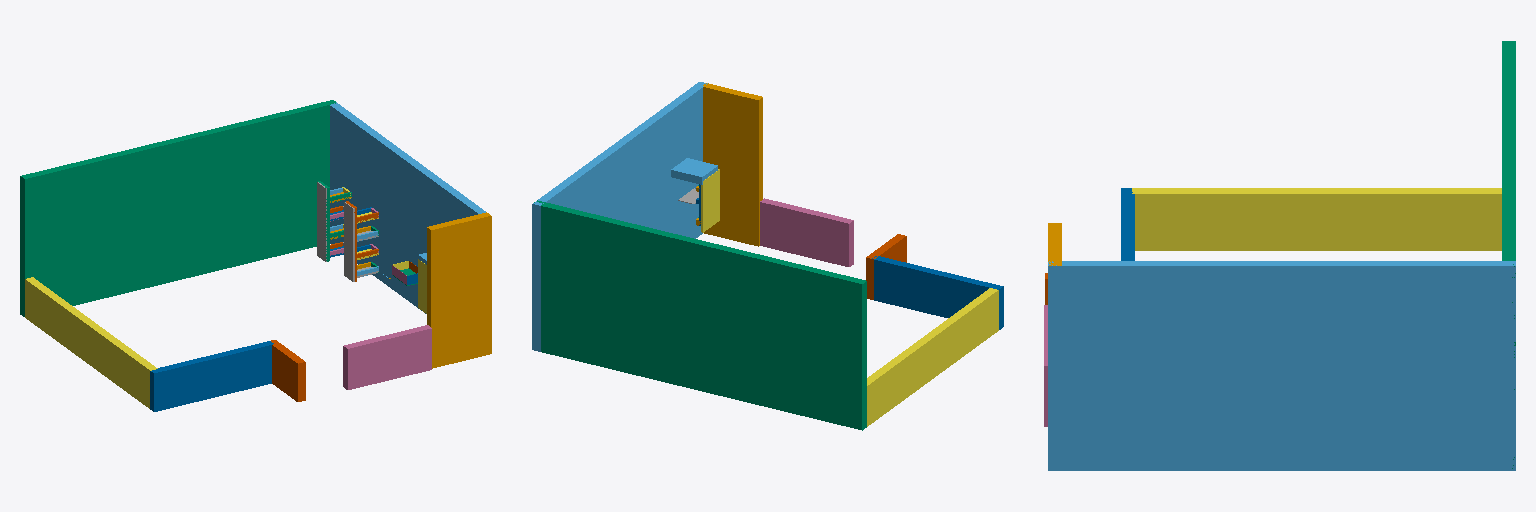
--- Facts derived from the render (not from the file) ---
3 views of the same robot in one strip: view 1: azimuth 30°, elevation 25°; view 2: azimuth 150°, elevation 25°; view 3: azimuth 270°, elevation 25° (orthographic).
Robot: iai_kitchen — 136 links, 135 joints (8 revolute, 16 prismatic, 111 fixed); root link base_link; default pose: all joints at 0.
Links seen in each view (by area): view 1: kitchen_wall_3, kitchen_wall_2, kitchen_wall_1, kitchen_wall_4, kitchen_wall_5, kitchen_wall_7, kitchen_wall_6, oven_area_area_right_drawer_main, oven_area_area_left_drawer_main; view 2: kitchen_wall_3, kitchen_wall_2, kitchen_wall_1, kitchen_wall_4, kitchen_wall_5, kitchen_wall_7, iai_fridge_door_block, kitchen_wall_6, iai_fridge_ceiling; view 3: kitchen_wall_2, kitchen_wall_4, kitchen_wall_3, kitchen_wall_5, kitchen_wall_1.
Boxes of the visible links, bbox=[...] form: kitchen_wall_3: bbox=[20, 100, 335, 316]; kitchen_wall_2: bbox=[330, 102, 485, 313]; kitchen_wall_1: bbox=[427, 212, 491, 368]; kitchen_wall_4: bbox=[25, 277, 157, 408]; kitchen_wall_5: bbox=[150, 341, 273, 411]; kitchen_wall_7: bbox=[343, 325, 431, 389]; kitchen_wall_6: bbox=[271, 340, 305, 401]; oven_area_area_right_drawer_main: bbox=[344, 202, 354, 281]; oven_area_area_left_drawer_main: bbox=[317, 182, 326, 261]; kitchen_wall_3: bbox=[534, 200, 866, 430]; kitchen_wall_2: bbox=[532, 82, 707, 351]; kitchen_wall_1: bbox=[703, 83, 762, 246]; kitchen_wall_4: bbox=[867, 288, 998, 426]; kitchen_wall_5: bbox=[872, 256, 1003, 329]; kitchen_wall_7: bbox=[760, 198, 853, 266]; iai_fridge_door_block: bbox=[701, 169, 719, 232]; kitchen_wall_6: bbox=[866, 234, 906, 299]; iai_fridge_ceiling: bbox=[671, 158, 717, 184]; kitchen_wall_2: bbox=[1048, 261, 1515, 470]; kitchen_wall_4: bbox=[1132, 188, 1501, 250]; kitchen_wall_3: bbox=[1502, 41, 1515, 468]; kitchen_wall_5: bbox=[1121, 188, 1134, 260]; kitchen_wall_1: bbox=[1048, 223, 1061, 265].
Bounding box of the posed robot: 5.9 × 5.22 × 2.5 m (x, y, z).
0 mesh visuals loaded from 30 distinct referenced files (none loaded); not drawn: 57 (reference not matched to a file when rendering).

URDF robot description (iai_kitchen):
<?xml version="1.0"?>
<!-- =================================================================================== -->
<!-- |    This document was autogenerated by xacro from iai_kitchen_python.urdf.xacro  | -->
<!-- |    EDITING THIS FILE BY HAND IS NOT RECOMMENDED                                 | -->
<!-- =================================================================================== -->
<robot name="iai_kitchen">
    <!---
    FIXME THIS should NOT be here -->
    <!--
      <link name="map">
      
      <sphere_inertia radius="0" mass="0"/>
      </link>
      <iai_drawer_60_14 name="drawer_1" parent="map">
      <origin rpy="0 0 0" xyz="0 0 1"/>
      </iai_drawer_60_14>
      
      <iai_drawer_80_14 name="drawer_2" parent="map">
      <origin rpy="0 0 0" xyz="0 0 2"/>
      </iai_drawer_80_14>
      
      <iai_drawer_60_29 name="drawer_3" parent="map">
      <origin rpy="0 0 0" xyz="0 0 3"/>
      </iai_drawer_60_29>
      
      <iai_drawer_80_29 name="drawer_4" parent="map">
      <origin rpy="0 0 0" xyz="0 0 4"/>
      </iai_drawer_80_29>
      
      <iai_drawer_100_29 name="drawer_5" parent="map">
      <origin rpy="0 0 0" xyz="0 0 5"/>
      </iai_drawer_100_29>
  -->
    <!---
    FIXME THIS should NOT be here -->
    <!--
  <link name="oven_footprint">
    
    <xacro:sphere_inertia radius="0" mass="0"/>
  </link>
  <iai_oven name="iai_oven" parent="oven_footprint"/>
  -->
    <!---
    FIXME THIS should NOT be here -->
    <!--
      <link name="map">
      
      <sphere_inertia radius="0" mass="0"/>
      </link>
      <iai_drawer_60_14 name="drawer_1" parent="map">
      <origin rpy="0 0 0" xyz="0 0 1"/>
      </iai_drawer_60_14>
      
      <iai_drawer_80_14 name="drawer_2" parent="map">
      <origin rpy="0 0 0" xyz="0 0 2"/>
      </iai_drawer_80_14>
      
      <iai_drawer_60_29 name="drawer_3" parent="map">
      <origin rpy="0 0 0" xyz="0 0 3"/>
      </iai_drawer_60_29>
      
      <iai_drawer_80_29 name="drawer_4" parent="map">
      <origin rpy="0 0 0" xyz="0 0 4"/>
      </iai_drawer_80_29>
      
      <iai_drawer_100_29 name="drawer_5" parent="map">
      <origin rpy="0 0 0" xyz="0 0 5"/>
      </iai_drawer_100_29>
  -->
    <!---
    FIXME THIS should NOT be here -->
    <!--
      <link name="map">
      
      <sphere_inertia radius="0" mass="0"/>
      </link>
      <iai_drawer_60_14 name="drawer_1" parent="map">
      <origin rpy="0 0 0" xyz="0 0 1"/>
      </iai_drawer_60_14>
      
      <iai_drawer_80_14 name="drawer_2" parent="map">
      <origin rpy="0 0 0" xyz="0 0 2"/>
      </iai_drawer_80_14>
      
      <iai_drawer_60_29 name="drawer_3" parent="map">
      <origin rpy="0 0 0" xyz="0 0 3"/>
      </iai_drawer_60_29>
      
      <iai_drawer_80_29 name="drawer_4" parent="map">
      <origin rpy="0 0 0" xyz="0 0 4"/>
      </iai_drawer_80_29>
      
      <iai_drawer_100_29 name="drawer_5" parent="map">
      <origin rpy="0 0 0" xyz="0 0 5"/>
      </iai_drawer_100_29>
  -->
    <!---
    FIXME THIS should NOT be here -->
    <!--
      <link name="map">
      
      <sphere_inertia radius="0" mass="0"/>
      </link>
      <iai_drawer_60_14 name="drawer_1" parent="map">
      <origin rpy="0 0 0" xyz="0 0 1"/>
      </iai_drawer_60_14>
      
      <iai_drawer_80_14 name="drawer_2" parent="map">
      <origin rpy="0 0 0" xyz="0 0 2"/>
      </iai_drawer_80_14>
      
      <iai_drawer_60_29 name="drawer_3" parent="map">
      <origin rpy="0 0 0" xyz="0 0 3"/>
      </iai_drawer_60_29>
      
      <iai_drawer_80_29 name="drawer_4" parent="map">
      <origin rpy="0 0 0" xyz="0 0 4"/>
      </iai_drawer_80_29>
      
      <iai_drawer_100_29 name="drawer_5" parent="map">
      <origin rpy="0 0 0" xyz="0 0 5"/>
      </iai_drawer_100_29>
  -->
    <link name="room_link">
        <inertial>
            <origin rpy="0 0 0" xyz="0.0 0.0 0.0" />
            <mass value="1" />
            <inertia ixx="1" ixy="0.0" ixz="0.0" iyy="1" iyz="0.0" izz="1" />
        </inertial>
    </link>
    <link name="base_link" />
    <joint name="world_room_joint" type="fixed">
        <origin rpy="0 0 0" xyz="0.0 0.03 0 " />
        <parent link="base_link" />
        <child link="room_link" />
    </joint>
    <link name="sink_area_footprint">
        <inertial>
            <origin rpy="0 0 0" xyz="0.0 0.0 0.0" />
            <mass value="1" />
            <inertia ixx="1" ixy="0.0" ixz="0.0" iyy="1" iyz="0.0" izz="1" />
        </inertial>
    </link>
    <link name="sink_area">
        <inertial>
            <origin rpy="0 0 0" xyz="0.0 0.0 0.0" />
            <mass value="1" />
            <inertia ixx="1" ixy="0.0" ixz="0.0" iyy="1" iyz="0.0" izz="1" />
        </inertial>
        <visual>
            <origin rpy="0 0 0" xyz="0 0 0" />
            <geometry>
                <mesh filename="package://iai_kitchen/meshes/racks/SinkArea.dae" />
            </geometry>
        </visual>
        <collision>
            <origin rpy="0 0 0" xyz="0 0 0" />
            <geometry>
                <mesh filename="package://iai_kitchen/meshes/racks/SinkArea.obj" />
            </geometry>
        </collision>
    </link>
    <joint name="sink_area_footprint_joint" type="fixed">
        <origin rpy="0 0 3.141592653589793" xyz="1.855 1.3 0" />
        <child link="sink_area_footprint" />
        <parent link="room_link" />
    </joint>
    <joint name="sink_area_main_joint" type="fixed">
        <origin rpy="0 0 0" xyz="0.29 1.03 0.41" />
        <parent link="sink_area_footprint" />
        <child link="sink_area" />
    </joint>
    <link name="sink_area_surface">
        <inertial>
            <origin rpy="0 0 0" xyz="0.0 0.0 0.0" />
            <mass value="1" />
            <inertia ixx="1" ixy="0.0" ixz="0.0" iyy="1" iyz="0.0" izz="1" />
        </inertial>
        <collision>
            <origin rpy="0 0 0" xyz="0 -0.225 0" />
            <geometry>
                <box size="0.575 1.6 0.02" />
            </geometry>
        </collision>
    </link>
    <joint name="sink_area_surface_joint" type="fixed">
        <origin rpy="0 0 0" xyz="0.0 0. 0.43" />
        <parent link="sink_area" />
        <child link="sink_area_surface" />
    </joint>
    <link name="sink_area_sink">
        <inertial>
            <origin rpy="0 0 0" xyz="0.0 0.0 0.0" />
            <mass value="1" />
            <inertia ixx="1" ixy="0.0" ixz="0.0" iyy="1" iyz="0.0" izz="1" />
        </inertial>
        <visual>
            <origin rpy="0 0 0" xyz="0 0 0" />
            <geometry>
                <mesh filename="package://iai_kitchen/meshes/misc/Sink.dae" />
            </geometry>
        </visual>
        <collision>
            <origin rpy="0 0 0" xyz="0 0 0" />
            <geometry>
                <mesh filename="package://iai_kitchen/meshes/misc/Sink.obj" />
            </geometry>
        </collision>
    </link>
    <joint name="sink_area_sink_joint" type="fixed">
        <origin rpy="0 0 0" xyz="0.005 0.47 0.4414" />
        <parent link="sink_area" />
        <child link="sink_area_sink" />
    </joint>
    <link name="sink_area_right_panel">
        <inertial>
            <origin rpy="0 0 0" xyz="0.0 0.0 0.0" />
            <mass value="1" />
            <inertia ixx="1" ixy="0.0" ixz="0.0" iyy="1" iyz="0.0" izz="1" />
        </inertial>
        <visual>
            <origin rpy="0 0 0" xyz="0 0 0" />
            <geometry>
                <mesh filename="package://iai_kitchen/meshes/drawers/Panel_60.dae" />
            </geometry>
        </visual>
        <collision>
            <origin rpy="0 0 0" xyz="0 0 0" />
            <geometry>
                <mesh filename="package://iai_kitchen/meshes/drawers/Panel_60.obj" />
            </geometry>
        </collision>
    </link>
    <joint name="sink_area_right_panel_joint" type="fixed">
        <origin rpy="0 0 0" xyz="0.28 0.7 0.355 " />
        <parent link="sink_area" />
        <child link="sink_area_right_panel" />
    </joint>
    <link name="sink_area_trash_drawer_main">
        <inertial>
            <origin rpy="0 0 0" xyz="0.0 0.0 0.0" />
            <mass value="1" />
            <inertia ixx="1" ixy="0.0" ixz="0.0" iyy="1" iyz="0.0" izz="1" />
        </inertial>
        <visual>
            <origin rpy="0 0 0" xyz="0 0 0" />
            <geometry>
                <mesh filename="package://iai_kitchen/meshes/drawers/Drawer_60_58.dae" />
            </geometry>
        </visual>
        <collision>
            <origin rpy="0 0 0" xyz="0 0 0" />
            <geometry>
                <mesh filename="package://iai_kitchen/meshes/drawers/Drawer_60_58.obj" />
            </geometry>
        </collision>
    </link>
    <link name="sink_area_trash_drawer_handle">
        <inertial>
            <origin rpy="0 0 0" xyz="0.0 0.0 0.0" />
            <mass value="1" />
            <inertia ixx="1" ixy="0.0" ixz="0.0" iyy="1" iyz="0.0" izz="1" />
        </inertial>
        <visual>
            <origin rpy="0 0 0" xyz="0 0 0" />
            <geometry>
                <mesh filename="package://iai_kitchen/meshes/handles/Handle60.dae" />
            </geometry>
        </visual>
        <collision>
            <origin rpy="0 0 0" xyz="0 0 0" />
            <geometry>
                <mesh filename="package://iai_kitchen/meshes/handles/Handle60.obj" />
            </geometry>
        </collision>
    </link>
    <joint name="sink_area_trash_drawer_main_joint" type="prismatic">
        <origin rpy="0 0 0" xyz="0.01 0.7 -0.015 " />
        <parent link="sink_area" />
        <child link="sink_area_trash_drawer_main" />
        <axis xyz="1. 0. 0.0" />
        <limit effort="300" lower="0" upper="0.48" velocity="10" />
        <!--
          <limit effort="300" lower="0" upper="0" velocity="10"/>
      -->
    </joint>
    <joint name="sink_area_trash_drawer_handle_joint" type="fixed">
        <origin rpy="0 0 0" xyz="0.37 0 0.25" />
        <parent link="sink_area_trash_drawer_main" />
        <child link="sink_area_trash_drawer_handle" />
        <axis xyz="0 0 1" />
        <limit effort="300" lower="0" upper="1.5707963267948966" velocity="10" />
    </joint>
    <link name="sink_area_left_upper_drawer_main">
        <inertial>
            <origin rpy="0 0 0" xyz="0.0 0.0 0.0" />
            <mass value="1" />
            <inertia ixx="1" ixy="0.0" ixz="0.0" iyy="1" iyz="0.0" izz="1" />
        </inertial>
        <visual>
            <origin rpy="0 0 0" xyz="0 0 0" />
            <geometry>
                <mesh filename="package://iai_kitchen/meshes/drawers/Drawer_80_14.dae" />
            </geometry>
        </visual>
        <collision>
            <origin rpy="0 0 0" xyz="0 0 0" />
            <geometry>
                <mesh filename="package://iai_kitchen/meshes/drawers/Drawer_80_14.obj" />
            </geometry>
        </collision>
    </link>
    <link name="sink_area_left_upper_drawer_handle">
        <inertial>
            <origin rpy="0 0 0" xyz="0.0 0.0 0.0" />
            <mass value="1" />
            <inertia ixx="1" ixy="0.0" ixz="0.0" iyy="1" iyz="0.0" izz="1" />
        </inertial>
        <visual>
            <origin rpy="0 0 0" xyz="0 0 0" />
            <geometry>
                <mesh filename="package://iai_kitchen/meshes/handles/Handle80.dae" />
            </geometry>
        </visual>
        <collision>
            <origin rpy="0 0 0" xyz="0 0 0" />
            <geometry>
                <mesh filename="package://iai_kitchen/meshes/handles/Handle80.obj" />
            </geometry>
        </collision>
    </link>
    <joint name="sink_area_left_upper_drawer_main_joint" type="prismatic">
        <origin rpy="0 0 0" xyz="0.01 -0.6 0.345 " />
        <parent link="sink_area" />
        <child link="sink_area_left_upper_drawer_main" />
        <axis xyz="1. 0. 0.0" />
        <limit effort="300" lower="0" upper="0.48" velocity="10" />
        <!--
          <limit effort="300" lower="0" upper="0" velocity="10"/>
      -->
    </joint>
    <joint name="sink_area_left_upper_drawer_handle_joint" type="fixed">
        <origin rpy="0 0 0" xyz="0.3525 0 0.0175" />
        <parent link="sink_area_left_upper_drawer_main" />
        <child link="sink_area_left_upper_drawer_handle" />
        <axis xyz="0 0 1" />
        <limit effort="300" lower="0" upper="1.5707963267948966" velocity="10" />
    </joint>
    <link name="sink_area_left_middle_drawer_main">
        <inertial>
            <origin rpy="0 0 0" xyz="0.0 0.0 0.0" />
            <mass value="1" />
            <inertia ixx="1" ixy="0.0" ixz="0.0" iyy="1" iyz="0.0" izz="1" />
        </inertial>
        <visual>
            <origin rpy="0 0 0" xyz="0 0 0" />
            <geometry>
                <mesh filename="package://iai_kitchen/meshes/drawers/Drawer_80_29.dae" />
            </geometry>
        </visual>
        <collision>
            <origin rpy="0 0 0" xyz="0 0 0" />
            <geometry>
                <mesh filename="package://iai_kitchen/meshes/drawers/Drawer_80_29.obj" />
            </geometry>
        </collision>
    </link>
    <link name="sink_area_left_middle_drawer_handle">
        <inertial>
            <origin rpy="0 0 0" xyz="0.0 0.0 0.0" />
            <mass value="1" />
            <inertia ixx="1" ixy="0.0" ixz="0.0" iyy="1" iyz="0.0" izz="1" />
        </inertial>
        <visual>
            <origin rpy="0 0 0" xyz="0 0 0" />
            <geometry>
                <mesh filename="package://iai_kitchen/meshes/handles/Handle80.dae" />
            </geometry>
        </visual>
        <collision>
            <origin rpy="0 0 0" xyz="0 0 0" />
            <geometry>
                <mesh filename="package://iai_kitchen/meshes/handles/Handle80.obj" />
            </geometry>
        </collision>
    </link>
    <joint name="sink_area_left_middle_drawer_main_joint" type="prismatic">
        <origin rpy="0 0 0" xyz="0.01 -0.6 0.12 " />
        <parent link="sink_area" />
        <child link="sink_area_left_middle_drawer_main" />
        <axis xyz="1. 0. 0.0" />
        <limit effort="300" lower="0" upper="0.48" velocity="10" />
        <!--
          <limit effort="300" lower="0" upper="0" velocity="10"/>
      -->
    </joint>
    <joint name="sink_area_left_middle_drawer_handle_joint" type="fixed">
        <origin rpy="0 0 0" xyz="0.3525 0 0.11" />
        <parent link="sink_area_left_middle_drawer_main" />
        <child link="sink_area_left_middle_drawer_handle" />
        <axis xyz="0 0 1" />
        <limit effort="300" lower="0" upper="1.5707963267948966" velocity="10" />
    </joint>
    <link name="sink_area_left_bottom_drawer_main">
        <inertial>
            <origin rpy="0 0 0" xyz="0.0 0.0 0.0" />
            <mass value="1" />
            <inertia ixx="1" ixy="0.0" ixz="0.0" iyy="1" iyz="0.0" izz="1" />
        </inertial>
        <visual>
            <origin rpy="0 0 0" xyz="0 0 0" />
            <geometry>
                <mesh filename="package://iai_kitchen/meshes/drawers/Drawer_80_29.dae" />
            </geometry>
        </visual>
        <collision>
            <origin rpy="0 0 0" xyz="0 0 0" />
            <geometry>
                <mesh filename="package://iai_kitchen/meshes/drawers/Drawer_80_29.obj" />
            </geometry>
        </collision>
    </link>
    <link name="sink_area_left_bottom_drawer_handle">
        <inertial>
            <origin rpy="0 0 0" xyz="0.0 0.0 0.0" />
            <mass value="1" />
            <inertia ixx="1" ixy="0.0" ixz="0.0" iyy="1" iyz="0.0" izz="1" />
        </inertial>
        <visual>
            <origin rpy="0 0 0" xyz="0 0 0" />
            <geometry>
                <mesh filename="package://iai_kitchen/meshes/handles/Handle80.dae" />
            </geometry>
        </visual>
        <collision>
            <origin rpy="0 0 0" xyz="0 0 0" />
            <geometry>
                <mesh filename="package://iai_kitchen/meshes/handles/Handle80.obj" />
            </geometry>
        </collision>
    </link>
    <joint name="sink_area_left_bottom_drawer_main_joint" type="prismatic">
        <origin rpy="0 0 0" xyz="0.01 -0.6 -0.18" />
        <parent link="sink_area" />
        <child link="sink_area_left_bottom_drawer_main" />
        <axis xyz="1. 0. 0.0" />
        <limit effort="300" lower="0" upper="0.48" velocity="10" />
        <!--
          <limit effort="300" lower="0" upper="0" velocity="10"/>
      -->
    </joint>
    <joint name="sink_area_left_bottom_drawer_handle_joint" type="fixed">
        <origin rpy="0 0 0" xyz="0.3525 0 0.11" />
        <parent link="sink_area_left_bottom_drawer_main" />
        <child link="sink_area_left_bottom_drawer_handle" />
        <axis xyz="0 0 1" />
        <limit effort="300" lower="0" upper="1.5707963267948966" velocity="10" />
    </joint>
    <link name="sink_area_dish_washer_main">
        <inertial>
            <origin rpy="0 0 0" xyz="0.0 0.0 0.0" />
            <mass value="1" />
            <inertia ixx="1" ixy="0.0" ixz="0.0" iyy="1" iyz="0.0" izz="1" />
        </inertial>
        <visual>
            <origin rpy="0 0 0" xyz="0 0 0" />
            <geometry>
                <mesh filename="package://iai_kitchen/meshes/misc/DishWasher.dae" />
            </geometry>
        </visual>
        <collision>
            <origin rpy="0 0 0" xyz="0 0 0" />
            <geometry>
                <mesh filename="package://iai_kitchen/meshes/misc/DishWasher.obj" />
            </geometry>
        </collision>
    </link>
    <link name="sink_area_dish_washer_door">
        <inertial>
            <origin rpy="0 0 0" xyz="0.0 0.0 0.0" />
            <mass value="1" />
            <inertia ixx="1" ixy="0.0" ixz="0.0" iyy="1" iyz="0.0" izz="1" />
        </inertial>
        <visual>
            <origin rpy="1.5707963267948966 0 0" xyz="0 0.055 0" />
            <geometry>
                <mesh filename="package://iai_kitchen/meshes/misc/DishWasherDoor.dae" />
            </geometry>
        </visual>
        <collision>
            <origin rpy="1.5707963267948966 0 0" xyz="0 0.055 0" />
            <geometry>
                <mesh filename="package://iai_kitchen/meshes/misc/DishWasherDoor.obj" />
            </geometry>
        </collision>
    </link>
    <link name="sink_area_dish_washer_door_handle">
        <inertial>
            <origin rpy="0 0 0" xyz="0.0 0.0 0.0" />
            <mass value="1" />
            <inertia ixx="1" ixy="0.0" ixz="0.0" iyy="1" iyz="0.0" izz="1" />
        </inertial>
        <visual>
            <origin rpy="0 0 0" xyz="0 0 0" />
            <geometry>
                <mesh filename="package://iai_kitchen/meshes/handles/Handle60.dae" />
            </geometry>
        </visual>
        <collision>
            <origin rpy="0 0 0" xyz="0 0 0" />
            <geometry>
                <mesh filename="package://iai_kitchen/meshes/handles/Handle60.obj" />
            </geometry>
        </collision>
    </link>
    <!--
    <xacro:if value="simulated"/>
    -->
    <joint name="sink_area_dish_washer_main_joint" type="fixed">
        <origin rpy="0 0 0" xyz="0.01 0.1 0.06" />
        <parent link="sink_area" />
        <child link="sink_area_dish_washer_main" />
    </joint>
    <!--
    <xacro:if value="${simulated}">
    <joint name="${name}_door_joint" type="revolute">
      <origin xyz="0.27 0. -0.325" rpy="${-0.5*pi} 0 0" />
      <parent link="${name}_main"/>
      <child link="${name}_door"/>
      <axis xyz="0 0 1"/>
       FIXME make closed position stable instead of forbidding opening...
      <limit lower="0" upper="0" effort="300" velocity="10"/>
    </joint>

    </xacro:if>
    -->
    <!--
    <xacro:unless value="${simulated}">
    -->
    <joint name="sink_area_dish_washer_door_joint" type="revolute">
        <origin rpy="-1.5707963267948966 0 0" xyz="0.27 0. -0.285" />
        <parent link="sink_area_dish_washer_main" />
        <child link="sink_area_dish_washer_door" />
        <axis xyz="0 0 1" />
        <!--
      <limit lower="0" upper="${0.5*pi}" effort="300" velocity="10"/>
      -->
        <limit effort="300" lower="0" upper="1.5707963267948966" velocity="10" />
    </joint>
    <!--
    </xacro:unless>
  -->
    <joint name="sink_area_dish_washer_door_handle_joint" type="fixed">
        <origin rpy="-1.5707963267948966 0 0" xyz="0.085 -0.575 0.0" />
        <parent link="sink_area_dish_washer_door" />
        <child link="sink_area_dish_washer_door_handle" />
    </joint>
    <joint name="sink_area_dish_washer_tray_main" type="prismatic">
        <origin xyz="-0.08 0 0.15" />
        <parent link="sink_area_dish_washer_main" />
        <child link="sink_area_dish_washer_tray_bottom" />
        <axis xyz="1 0 0" />
        <limit effort="300" lower="0" upper="0.48" velocity="10" />
    </joint>
    <link name="sink_area_dish_washer_tray_bottom">
        <visual>
            <geometry>
                <box size="0.32 0.5 0.05" />
            </geometry>
        </visual>
        <collision>
            <geometry>
                <box size="0.32 0.5 0.05" />
            </geometry>
        </collision>
    </link>
    <link name="sink_area_dish_washer_tray_left_side">
        <visual>
            <geometry>
                <box size="0.32 0.005 0.17" />
            </geometry>
        </visual>
        <collision>
            <geometry>
                <box size="0.32 0.005 0.17" />
            </geometry>
        </collision>
    </link>
    <link name="sink_area_dish_washer_tray_right_side">
        <visual>
            <geometry>
                <box size="0.32 0.005 0.17" />
            </geometry>
        </visual>
        <collision>
            <geometry>
                <box size="0.32 0.005 0.17" />
            </geometry>
        </collision>
    </link>
    <link name="sink_area_dish_washer_tray_back_side">
        <visual>
            <geometry>
                <box size="0.005 0.5 0.17" />
            </geometry>
        </visual>
        <collision>
            <geometry>
                <box size="0.005 0.5 0.17" />
            </geometry>
        </collision>
    </link>
    <link name="sink_area_dish_washer_tray_front_side">
        <visual>
            <geometry>
                <box size="0.005 0.5 0.17" />
            </geometry>
        </visual>
        <collision>
            <geometry>
                <box size="0.005 0.5 0.17" />
            </geometry>
        </collision>
    </link>
    <joint name="sink_area_dish_washer_tray_bottom_left" type="fixed">
        <origin xyz="-0.0 -0.25 0.075" />
        <child link="sink_area_dish_washer_tray_left_side" />
        <parent link="sink_area_dish_washer_tray_bottom" />
    </joint>
    <joint name="sink_area_dish_washer_tray_bottom_right" type="fixed">
        <origin xyz="-0.0 0.25 0.075" />
        <child link="sink_area_dish_washer_tray_right_side" />
        <parent link="sink_area_dish_washer_tray_bottom" />
    </joint>
    <joint name="sink_area_dish_washer_tray_bottom_back" type="fixed">
        <origin xyz="-0.16 0 0.075" />
        <child link="sink_area_dish_washer_tray_back_side" />
        <parent link="sink_area_dish_washer_tray_bottom" />
    </joint>
    <joint name="sink_area_dish_washer_tray_bottom_front" type="fixed">
        <origin xyz="0.16 0 0.075" />
        <child link="sink_area_dish_washer_tray_front_side" />
        <parent link="sink_area_dish_washer_tray_bottom" />
    </joint>
    <joint name="sink_area_dish_washer_tray_handle_joint" type="fixed">
        <origin xyz="0.20 -0.1 -0.02" />
        <child link="sink_area_dish_washer_tray_handle_front_side" />
        <parent link="sink_area_dish_washer_tray_front_side" />
    </joint>
    <link name="sink_area_dish_washer_tray_handle_left_side">
        <visual>
            <geometry>
                <box size="0.03 0.01 0.01" />
            </geometry>
        </visual>
        <collision>
            <geometry>
                <box size="0.03 0.01 0.01" />
            </geometry>
        </collision>
    </link>
    <link name="sink_area_dish_washer_tray_handle_right_side">
        <visual>
            <geometry>
                <box size="0.03 0.01 0.01" />
            </geometry>
        </visual>
        <collision>
            <geometry>
                <box size="0.03 0.01 0.01" />
            </geometry>
        </collision>
    </link>
    <link name="sink_area_dish_washer_tray_handle_front_side">
        <visual>
            <geometry>
                <box size="0.01 0.2 0.01" />
            </geometry>
        </visual>
        <collision>
            <geometry>
                <box size="0.01 0.2 0.01" />
            </geometry>
        </collision>
    </link>
    <joint name="sink_area_dish_washer_tray_handle_front_left_joint" type="fixed">
        <origin xyz="-0.01 -0.1 0" />
        <child link="sink_area_dish_washer_tray_handle_left_side" />
        <parent link="sink_area_dish_washer_tray_handle_front_side" />
    </joint>
    <joint name="sink_area_dish_washer_tray_handle_front_right_joint" type="fixed">
        <origin xyz="-0.01 0.1 0" />
        <child link="sink_area_dish_washer_tray_handle_right_side" />
        <parent link="sink_area_dish_washer_tray_handle_front_side" />
    </joint>
    <link name="oven_area_area_footprint">
        <inertial>
            <origin rpy="0 0 0" xyz="0.0 0.0 0.0" />
            <mass value="1" />
            <inertia ixx="1" ixy="0.0" ixz="0.0" iyy="1" iyz="0.0" izz="1" />
        </inertial>
    </link>
    <link name="oven_area_area">
        <inertial>
            <origin rpy="0 0 0" xyz="0.0 0.0 0.0" />
            <mass value="1" />
            <inertia ixx="1" ixy="0.0" ixz="0.0" iyy="1" iyz="0.0" izz="1" />
        </inertial>
        <visual>
            <origin rpy="0 0 0" xyz="0 0 0" />
            <geometry>
                <mesh filename="package://iai_kitchen/meshes/racks/OvenArea.dae" />
            </geometry>
        </visual>
        <collision>
            <origin rpy="0 0 0" xyz="0 0 0" />
            <geometry>
                <mesh filename="package://iai_kitchen/meshes/racks/OvenArea.obj" />
            </geometry>
        </collision>
    </link>
    <joint name="oven_area_footprint_joint" type="fixed">
        <origin rpy="0 0 3.141592653589793" xyz="1.845 2.5 0" />
        <child link="oven_area_area_footprint" />
        <parent link="room_link" />
    </joint>
    <joint name="oven_area_main_joint" type="fixed">
        <origin rpy="0 0 0" xyz="0.29 0.6 0.755" />
        <parent link="oven_area_area_footprint" />
        <child link="oven_area_area" />
    </joint>
    <!-- LINKS -->
    <link name="oven_area_oven_main">
        <inertial>
            <origin rpy="0 0 0" xyz="0.0 0.0 0.0" />
            <mass value="1" />
            <inertia ixx="1" ixy="0.0" ixz="0.0" iyy="1" iyz="0.0" izz="1" />
        </inertial>
        <visual>
            <origin rpy="0 0 0" xyz="0 0 0" />
            <geometry>
                <mesh filename="package://iai_kitchen/meshes/oven/OvenMain.dae" />
            </geometry>
        </visual>
        <collision>
            <origin rpy="0 0 0" xyz="0 0 0" />
            <geometry>
                <mesh filename="package://iai_kitchen/meshes/oven/OvenMain.obj" />
            </geometry>
        </collision>
    </link>
    <link name="oven_area_oven_door">
        <inertial>
            <origin rpy="0 0 0" xyz="0.0 0.0 0.0" />
            <mass value="1" />
            <inertia ixx="1" ixy="0.0" ixz="0.0" iyy="1" iyz="0.0" izz="1" />
        </inertial>
        <visual>
            <origin rpy="1.5707963267948966 0 0" xyz="0 0 0" />
            <geometry>
                <mesh filename="package://iai_kitchen/meshes/oven/OvenDoor.dae" />
            </geometry>
        </visual>
        <collision>
            <origin rpy="1.5707963267948966 0 0" xyz="0 0 0" />
            <geometry>
                <mesh filename="package://iai_kitchen/meshes/oven/OvenDoor.obj" />
            </geometry>
        </collision>
    </link>
    <link name="oven_area_oven_door_handle">
        <inertial>
            <origin rpy="0 0 0" xyz="0.0 0.0 0.0" />
            <mass value="1" />
            <inertia ixx="1" ixy="0.0" ixz="0.0" iyy="1" iyz="0.0" izz="1" />
        </inertial>
        <visual>
            <origin rpy="0 0 0" xyz="0 0 0" />
            <geometry>
                <mesh filename="package://iai_kitchen/meshes/handles/Handle60.dae" />
            </geometry>
        </visual>
        <collision>
            <origin rpy="0 0 0" xyz="0 0 0" />
            <geometry>
                <mesh filename="package://iai_kitchen/meshes/handles/Handle60.obj" />
            </geometry>
        </collision>
    </link>
    <link name="oven_area_oven_panel">
        <inertial>
            <origin rpy="0 0 0" xyz="0.0 0.0 0.0" />
            <mass value="1" />
            <inertia ixx="1" ixy="0.0" ixz="0.0" iyy="1" iyz="0.0" izz="1" />
        </inertial>
        <visual>
            <origin rpy="0 0 0" xyz="0 0 0" />
            <geometry>
                <mesh filename="package://iai_kitchen/meshes/oven/OvenPanel.dae" />
            </geometry>
        </visual>
        <collision>
            <origin rpy="0 0 0" xyz="0 0 0" />
            <geometry>
                <mesh filename="package://iai_kitchen/meshes/oven/OvenPanel.obj" />
            </geometry>
        </collision>
    </link>
    <!-- JOINTS -->
    <joint name="oven_area_oven_main_joint" type="fixed">
        <origin rpy="0 0 0" xyz="0.0 0.0 0.415" />
        <parent link="oven_area_area" />
        <child link="oven_area_oven_main" />
    </joint>
    <joint name="oven_area_oven_door_joint" type="revolute">
        <origin rpy="-1.5707963267948966 0 0" xyz="0.2737 0. -0.2614" />
        <parent link="oven_area_oven_main" />
        <child link="oven_area_oven_door" />
        <axis xyz="0 0 1" />
        <!--
        <limit lower="0" upper="${0.5*pi}" effort="300" velocity="10"/>
        -->
        <!-- FIXME make the closed position stable -->
        <limit effort="0.03" lower="0" upper="1.5707963267948966" velocity="10" />
        <dynamics damping="100.1" />
    </joint>
    <gazebo reference="oven_area_oven_door_joint">
        <kp>1000000000</kp>
        <kd>1000000000</kd>
    </gazebo>
    <joint name="oven_area_oven_door_handle_joint" type="fixed">
        <origin rpy="-1.5707963267948966 0 0" xyz="0.05876 -0.39803 0." />
        <parent link="oven_area_oven_door" />
        <child link="oven_area_oven_door_handle" />
        <axis xyz="0 0 1" />
        <limit effort="300" lower="0" upper="1.5707963267948966" velocity="10" />
    </joint>
    <joint name="oven_area_oven_panel_joint" type="fixed">
        <origin rpy="0 0 0" xyz="0.27 0 0.2449" />
        <parent link="oven_area_oven_main" />
        <child link="oven_area_oven_panel" />
    </joint>
    <!--KNOBS -->
    <link name="oven_area_oven_knob_stove_2">
        <inertial>
            <origin rpy="0 0 0" xyz="0.0 0.0 0.0" />
            <mass value="1" />
            <inertia ixx="1" ixy="0.0" ixz="0.0" iyy="1" iyz="0.0" izz="1" />
        </inertial>
        <visual>
            <origin rpy="0 1.5707963267948966 0" xyz="0 0 0" />
            <geometry>
                <mesh filename="package://iai_kitchen/meshes/oven/Knob.obj" />
            </geometry>
        </visual>
        <collision>
            <origin rpy="0 1.5707963267948966 0" xyz="0 0 0" />
            <geometry>
                <mesh filename="package://iai_kitchen/meshes/oven/Knob.obj" />
            </geometry>
        </collision>
    </link>
    <joint name="oven_area_oven_knob_stove_2_joint" type="revolute">
        <origin rpy="0 -1.5707963267948966 0" xyz="0 -0.14 0" />
        <parent link="oven_area_oven_panel" />
        <child link="oven_area_oven_knob_stove_2" />
        <axis xyz="0 0 1" />
        <limit effort="300" lower="0" upper="3.141592653589793" velocity="10" />
    </joint>
    <link name="oven_area_oven_knob_stove_1">
        <inertial>
            <origin rpy="0 0 0" xyz="0.0 0.0 0.0" />
            <mass value="1" />
            <inertia ixx="1" ixy="0.0" ixz="0.0" iyy="1" iyz="0.0" izz="1" />
        </inertial>
        <visual>
            <origin rpy="0 1.5707963267948966 0" xyz="0 0 0" />
            <geometry>
                <mesh filename="package://iai_kitchen/meshes/oven/Knob.obj" />
            </geometry>
        </visual>
        <collision>
            <origin rpy="0 1.5707963267948966 0" xyz="0 0 0" />
            <geometry>
                <mesh filename="package://iai_kitchen/meshes/oven/Knob.obj" />
            </geometry>
        </collision>
    </link>
    <joint name="oven_area_oven_knob_stove_1_joint" type="revolute">
        <origin rpy="0 -1.5707963267948966 0" xyz="0 -0.21 0" />
        <parent link="oven_area_oven_panel" />
        <child link="oven_area_oven_knob_stove_1" />
        <axis xyz="0 0 1" />
        <limit effort="300" lower="0" upper="3.141592653589793" velocity="10" />
    </joint>
    <link name="oven_area_oven_knob_stove_3">
        <inertial>
            <origin rpy="0 0 0" xyz="0.0 0.0 0.0" />
            <mass value="1" />
            <inertia ixx="1" ixy="0.0" ixz="0.0" iyy="1" iyz="0.0" izz="1" />
        </inertial>
        <visual>
            <origin rpy="0 1.5707963267948966 0" xyz="0 0 0" />
            <geometry>
                <mesh filename="package://iai_kitchen/meshes/oven/Knob.obj" />
            </geometry>
        </visual>
        <collision>
            <origin rpy="0 1.5707963267948966 0" xyz="0 0 0" />
            <geometry>
                <mesh filename="package://iai_kitchen/meshes/oven/Knob.obj" />
            </geometry>
        </collision>
    </link>
    <joint name="oven_area_oven_knob_stove_3_joint" type="revolute">
        <origin rpy="0 -1.5707963267948966 0" xyz="0 -0.07 0" />
        <parent link="oven_area_oven_panel" />
        <child link="oven_area_oven_knob_stove_3" />
        <axis xyz="0 0 1" />
        <limit effort="300" lower="0" upper="3.141592653589793" velocity="10" />
    </joint>
    <link name="oven_area_oven_knob_stove_4">
        <inertial>
            <origin rpy="0 0 0" xyz="0.0 0.0 0.0" />
            <mass value="1" />
            <inertia ixx="1" ixy="0.0" ixz="0.0" iyy="1" iyz="0.0" izz="1" />
        </inertial>
        <visual>
            <origin rpy="0 1.5707963267948966 0" xyz="0 0 0" />
            <geometry>
                <mesh filename="package://iai_kitchen/meshes/oven/Knob.obj" />
            </geometry>
        </visual>
        <collision>
            <origin rpy="0 1.5707963267948966 0" xyz="0 0 0" />
            <geometry>
                <mesh filename="package://iai_kitchen/meshes/oven/Knob.obj" />
            </geometry>
        </collision>
    </link>
    <joint name="oven_area_oven_knob_stove_4_joint" type="revolute">
        <origin rpy="0 -1.5707963267948966 0" xyz="0 -0.0 0" />
        <parent link="oven_area_oven_panel" />
        <child link="oven_area_oven_knob_stove_4" />
        <axis xyz="0 0 1" />
        <limit effort="300" lower="0" upper="3.141592653589793" velocity="10" />
    </joint>
    <link name="oven_area_oven_knob_oven">
        <inertial>
            <origin rpy="0 0 0" xyz="0.0 0.0 0.0" />
            <mass value="1" />
            <inertia ixx="1" ixy="0.0" ixz="0.0" iyy="1" iyz="0.0" izz="1" />
        </inertial>
        <visual>
            <origin rpy="0 1.5707963267948966 0" xyz="0 0 0" />
            <geometry>
                <mesh filename="package://iai_kitchen/meshes/oven/Knob.obj" />
            </geometry>
        </visual>
        <collision>
            <origin rpy="0 1.5707963267948966 0" xyz="0 0 0" />
            <geometry>
                <mesh filename="package://iai_kitchen/meshes/oven/Knob.obj" />
            </geometry>
        </collision>
    </link>
    <joint name="oven_area_oven_knob_oven_joint" type="revolute">
        <origin rpy="0 -1.5707963267948966 0" xyz="0 0.16 0" />
        <parent link="oven_area_oven_panel" />
        <child link="oven_area_oven_knob_oven" />
        <axis xyz="0 0 1" />
        <limit effort="300" lower="0" upper="3.141592653589793" velocity="10" />
    </joint>
    <link name="oven_area_area_middle_upper_drawer_main">
        <inertial>
            <origin rpy="0 0 0" xyz="0.0 0.0 0.0" />
            <mass value="1" />
            <inertia ixx="1" ixy="0.0" ixz="0.0" iyy="1" iyz="0.0" izz="1" />
        </inertial>
        <visual>
            <origin rpy="0 0 0" xyz="0 0 0" />
            <geometry>
                <mesh filename="package://iai_kitchen/meshes/drawers/Drawer_60_14.dae" />
            </geometry>
        </visual>
        <collision>
            <origin rpy="0 0 0" xyz="0 0 0" />
            <geometry>
                <mesh filename="package://iai_kitchen/meshes/drawers/Drawer_60_14.obj" />
            </geometry>
        </collision>
    </link>
    <link name="oven_area_area_middle_upper_drawer_handle">
        <inertial>
            <origin rpy="0 0 0" xyz="0.0 0.0 0.0" />
            <mass value="1" />
            <inertia ixx="1" ixy="0.0" ixz="0.0" iyy="1" iyz="0.0" izz="1" />
        </inertial>
        <visual>
            <origin rpy="0 0 0" xyz="0 0 0" />
            <geometry>
                <mesh filename="package://iai_kitchen/meshes/handles/Handle60.dae" />
            </geometry>
        </visual>
        <collision>
            <origin rpy="0 0 0" xyz="0 0 0" />
            <geometry>
                <mesh filename="package://iai_kitchen/meshes/handles/Handle60.obj" />
            </geometry>
        </collision>
    </link>
    <joint name="oven_area_area_middle_upper_drawer_main_joint" type="prismatic">
        <origin rpy="0 0 0" xyz="0.0 -0. 0.045 " />
        <parent link="oven_area_area" />
        <child link="oven_area_area_middle_upper_drawer_main" />
        <axis xyz="1. 0. 0.0" />
        <limit effort="300" lower="0" upper="0.48" velocity="10" />
        <!--
          <limit effort="300" lower="0" upper="0" velocity="10"/>
      -->
    </joint>
    <joint name="oven_area_area_middle_upper_drawer_handle_joint" type="fixed">
        <origin rpy="0 0 0" xyz="0.3525 0 0.0175" />
        <parent link="oven_area_area_middle_upper_drawer_main" />
        <child link="oven_area_area_middle_upper_drawer_handle" />
        <axis xyz="0 0 1" />
        <limit effort="300" lower="0" upper="1.5707963267948966" velocity="10" />
    </joint>
    <link name="oven_area_area_middle_lower_drawer_main">
        <inertial>
            <origin rpy="0 0 0" xyz="0.0 0.0 0.0" />
            <mass value="1" />
            <inertia ixx="1" ixy="0.0" ixz="0.0" iyy="1" iyz="0.0" izz="1" />
        </inertial>
        <visual>
            <origin rpy="0 0 0" xyz="0 0 0" />
            <geometry>
                <mesh filename="package://iai_kitchen/meshes/drawers/Drawer_60_58.dae" />
            </geometry>
        </visual>
        <collision>
            <origin rpy="0 0 0" xyz="0 0 0" />
            <geometry>
                <mesh filename="package://iai_kitchen/meshes/drawers/Drawer_60_58.obj" />
            </geometry>
        </collision>
    </link>
    <link name="oven_area_area_middle_lower_drawer_handle">
        <inertial>
            <origin rpy="0 0 0" xyz="0.0 0.0 0.0" />
            <mass value="1" />
            <inertia ixx="1" ixy="0.0" ixz="0.0" iyy="1" iyz="0.0" izz="1" />
        </inertial>
        <visual>
            <origin rpy="0 0 0" xyz="0 0 0" />
            <geometry>
                <mesh filename="package://iai_kitchen/meshes/handles/Handle60.dae" />
            </geometry>
        </visual>
        <collision>
            <origin rpy="0 0 0" xyz="0 0 0" />
            <geometry>
                <mesh filename="package://iai_kitchen/meshes/handles/Handle60.obj" />
            </geometry>
        </collision>
    </link>
    <joint name="oven_area_area_middle_lower_drawer_main_joint" type="prismatic">
        <origin rpy="0 0 0" xyz="0.0 -0. -0.315 " />
        <parent link="oven_area_area" />
        <child link="oven_area_area_middle_lower_drawer_main" />
        <axis xyz="1. 0. 0.0" />
        <limit effort="300" lower="0" upper="0.48" velocity="10" />
        <!--
          <limit effort="300" lower="0" upper="0" velocity="10"/>
      -->
    </joint>
    <joint name="oven_area_area_middle_lower_drawer_handle_joint" type="fixed">
        <origin rpy="0 0 0" xyz="0.37 0 0.25" />
        <parent link="oven_area_area_middle_lower_drawer_main" />
        <child link="oven_area_area_middle_lower_drawer_handle" />
        <axis xyz="0 0 1" />
        <limit effort="300" lower="0" upper="1.5707963267948966" velocity="10" />
    </joint>
    <joint name="oven_area_area_left_drawer_main_joint" type="prismatic">
        <origin rpy="0 0 0" xyz="0.29 -0.45 0.07 " />
        <parent link="oven_area_area" />
        <child link="oven_area_area_left_drawer_main" />
        <axis xyz="1. 0. 0.0" />
        <limit effort="300" lower="0" upper="0.48" velocity="10" />
    </joint>
    <link name="oven_area_area_left_drawer_main">
        <inertial>
            <origin rpy="0 0 0" xyz="0.0 0.0 0.0" />
            <mass value="1" />
            <inertia ixx="1" ixy="0.0" ixz="0.0" iyy="1" iyz="0.0" izz="1" />
        </inertial>
        <visual>
            <origin rpy="0 0 0" xyz="0 0 0" />
            <geometry>
                <box size="0.025 0.3 1.33" />
            </geometry>
            <material name="KitchenLightGray">
                <color rgba="0.7 0.7 0.7 1.0" />
            </material>
        </visual>
        <collision>
            <origin rpy="0 0 0" xyz="0 0 0" />
            <geometry>
                <box size="0.025 0.3 1.33" />
            </geometry>
        </collision>
    </link>
    <joint name="oven_area_area_left_drawer_main_padding_joint" type="fixed">
        <parent link="oven_area_area_left_drawer_main" />
        <child link="oven_area_area_left_drawer_main_padding" />
        <origin rpy="0 0 0" xyz="-0.03 0.0 0.0" />
    </joint>
    <link name="oven_area_area_left_drawer_main_padding">
        <inertial>
            <origin rpy="0 0 0" xyz="0.0 0.0 0.0" />
            <mass value="1" />
            <inertia ixx="1" ixy="0.0" ixz="0.0" iyy="1" iyz="0.0" izz="1" />
        </inertial>
        <visual>
            <origin rpy="0 0 0" xyz="0 0 0" />
            <geometry>
                <box size="0.06 0.3 1.33" />
            </geometry>
        </visual>
        <collision>
            <origin rpy="0 0 0" xyz="0 0 0" />
            <geometry>
                <box size="0.06 0.3 1.33" />
            </geometry>
        </collision>
    </link>
    <joint name="oven_area_area_left_drawer_handle_joint" type="fixed">
        <origin rpy="-1.5707963267948966 0 0" xyz="0.08 0.0 0.05" />
        <parent link="oven_area_area_left_drawer_main" />
        <child link="oven_area_area_left_drawer_handle" />
    </joint>
    <link name="oven_area_area_left_drawer_handle">
        <inertial>
            <origin rpy="0 0 0" xyz="0.0 0.0 0.0" />
            <mass value="1" />
            <inertia ixx="1" ixy="0.0" ixz="0.0" iyy="1" iyz="0.0" izz="1" />
        </inertial>
        <visual>
            <origin rpy="1.5707963267948966 0 0" xyz="0 0 0" />
            <geometry>
                <mesh filename="package://iai_kitchen/meshes/handles/VHandle130.dae" />
            </geometry>
        </visual>
        <collision>
            <origin rpy="1.5707963267948966 0 0" xyz="0 0 0" />
            <geometry>
                <mesh filename="package://iai_kitchen/meshes/handles/VHandle130.obj" />
            </geometry>
        </collision>
    </link>
    <link name="oven_area_area_left_drawer_board_0_link">
        <inertial>
            <origin rpy="0 0 0" xyz="0.0 0.0 0.0" />
            <mass value="1" />
            <inertia ixx="1" ixy="0.0" ixz="0.0" iyy="1" iyz="0.0" izz="1" />
        </inertial>
        <visual>
            <origin rpy="0 0 0" xyz="0 0 0" />
            <geometry>
                <box size="0.49 0.25 0.036" />
            </geometry>
        </visual>
        <collision>
            <origin rpy="0 0 0" xyz="0 0 0" />
            <geometry>
                <box size="0.49 0.25 0.036" />
            </geometry>
        </collision>
    </link>
    <joint name="oven_area_area_left_drawer_board_0_joint" type="fixed">
        <origin xyz="-0.25 0 -0.6" />
        <parent link="oven_area_area_left_drawer_main" />
        <child link="oven_area_area_left_drawer_board_0_link" />
    </joint>
    <link name="oven_area_area_left_drawer_barrier_0_right_link">
        <inertial>
            <origin rpy="0 0 0" xyz="0.0 0.0 0.0" />
            <mass value="1" />
            <inertia ixx="1" ixy="0.0" ixz="0.0" iyy="1" iyz="0.0" izz="1" />
        </inertial>
        <visual>
            <origin rpy="0 0 0" xyz="0 0 0" />
            <geometry>
                <box size="0.49 0.036 0.1" />
            </geometry>
        </visual>
        <collision>
            <origin rpy="0 0 0" xyz="0 0 0" />
            <geometry>
                <box size="0.49 0.036 0.1" />
            </geometry>
        </collision>
    </link>
    <joint name="oven_area_area_left_drawer_barrier_0_right_joint" type="fixed">
        <origin xyz="-0.25 -0.107 -0.568" />
        <parent link="oven_area_area_left_drawer_main" />
        <child link="oven_area_area_left_drawer_barrier_0_right_link" />
    </joint>
    <link name="oven_area_area_left_drawer_barrier_0_left_link">
        <inertial>
            <origin rpy="0 0 0" xyz="0.0 0.0 0.0" />
            <mass value="1" />
            <inertia ixx="1" ixy="0.0" ixz="0.0" iyy="1" iyz="0.0" izz="1" />
        </inertial>
        <visual>
            <origin rpy="0 0 0" xyz="0 0 0" />
            <geometry>
                <box size="0.49 0.036 0.1" />
            </geometry>
        </visual>
        <collision>
            <origin rpy="0 0 0" xyz="0 0 0" />
            <geometry>
                <box size="0.49 0.036 0.1" />
            </geometry>
        </collision>
    </link>
    <joint name="oven_area_area_left_drawer_barrier_0_left_joint" type="fixed">
        <origin xyz="-0.25 0.107 -0.568" />
        <parent link="oven_area_area_left_drawer_main" />
        <child link="oven_area_area_left_drawer_barrier_0_left_link" />
    </joint>
    <link name="oven_area_area_left_drawer_barrier_0_back_link">
        <inertial>
            <origin rpy="0 0 0" xyz="0.0 0.0 0.0" />
            <mass value="1" />
            <inertia ixx="1" ixy="0.0" ixz="0.0" iyy="1" iyz="0.0" izz="1" />
        </inertial>
        <visual>
            <origin rpy="0 0 0" xyz="0 0 0" />
            <geometry>
                <box size="0.036 0.25 0.1" />
            </geometry>
        </visual>
        <collision>
            <origin rpy="0 0 0" xyz="0 0 0" />
            <geometry>
                <box size="0.036 0.25 0.1" />
            </geometry>
        </collision>
    </link>
    <joint name="oven_area_area_left_drawer_barrier_0_back_joint" type="fixed">
        <origin xyz="-0.477 0 -0.568" />
        <parent link="oven_area_area_left_drawer_main" />
        <child link="oven_area_area_left_drawer_barrier_0_back_link" />
    </joint>
    <link name="oven_area_area_left_drawer_board_1_link">
        <inertial>
            <origin rpy="0 0 0" xyz="0.0 0.0 0.0" />
            <mass value="1" />
            <inertia ixx="1" ixy="0.0" ixz="0.0" iyy="1" iyz="0.0" izz="1" />
        </inertial>
        <visual>
            <origin rpy="0 0 0" xyz="0 0 0" />
            <geometry>
                <box size="0.49 0.25 0.036" />
            </geometry>
        </visual>
        <collision>
            <origin rpy="0 0 0" xyz="0 0 0" />
            <geometry>
                <box size="0.49 0.25 0.036" />
            </geometry>
        </collision>
    </link>
    <joint name="oven_area_area_left_drawer_board_1_joint" type="fixed">
        <origin xyz="-0.25 0 -0.28" />
        <parent link="oven_area_area_left_drawer_main" />
        <child link="oven_area_area_left_drawer_board_1_link" />
    </joint>
    <link name="oven_area_area_left_drawer_barrier_1_right_link">
        <inertial>
            <origin rpy="0 0 0" xyz="0.0 0.0 0.0" />
            <mass value="1" />
            <inertia ixx="1" ixy="0.0" ixz="0.0" iyy="1" iyz="0.0" izz="1" />
        </inertial>
        <visual>
            <origin rpy="0 0 0" xyz="0 0 0" />
            <geometry>
                <box size="0.49 0.036 0.1" />
            </geometry>
        </visual>
        <collision>
            <origin rpy="0 0 0" xyz="0 0 0" />
            <geometry>
                <box size="0.49 0.036 0.1" />
            </geometry>
        </collision>
    </link>
    <joint name="oven_area_area_left_drawer_barrier_1_right_joint" type="fixed">
        <origin xyz="-0.25 -0.107 -0.24800000000000003" />
        <parent link="oven_area_area_left_drawer_main" />
        <child link="oven_area_area_left_drawer_barrier_1_right_link" />
    </joint>
    <link name="oven_area_area_left_drawer_barrier_1_left_link">
        <inertial>
            <origin rpy="0 0 0" xyz="0.0 0.0 0.0" />
            <mass value="1" />
            <inertia ixx="1" ixy="0.0" ixz="0.0" iyy="1" iyz="0.0" izz="1" />
        </inertial>
        <visual>
            <origin rpy="0 0 0" xyz="0 0 0" />
            <geometry>
                <box size="0.49 0.036 0.1" />
            </geometry>
        </visual>
        <collision>
            <origin rpy="0 0 0" xyz="0 0 0" />
            <geometry>
                <box size="0.49 0.036 0.1" />
            </geometry>
        </collision>
    </link>
    <joint name="oven_area_area_left_drawer_barrier_1_left_joint" type="fixed">
        <origin xyz="-0.25 0.107 -0.24800000000000003" />
        <parent link="oven_area_area_left_drawer_main" />
        <child link="oven_area_area_left_drawer_barrier_1_left_link" />
    </joint>
    <link name="oven_area_area_left_drawer_barrier_1_back_link">
        <inertial>
            <origin rpy="0 0 0" xyz="0.0 0.0 0.0" />
            <mass value="1" />
            <inertia ixx="1" ixy="0.0" ixz="0.0" iyy="1" iyz="0.0" izz="1" />
        </inertial>
        <visual>
            <origin rpy="0 0 0" xyz="0 0 0" />
            <geometry>
                <box size="0.036 0.25 0.1" />
            </geometry>
        </visual>
        <collision>
            <origin rpy="0 0 0" xyz="0 0 0" />
            <geometry>
                <box size="0.036 0.25 0.1" />
            </geometry>
        </collision>
    </link>
    <joint name="oven_area_area_left_drawer_barrier_1_back_joint" type="fixed">
        <origin xyz="-0.477 0 -0.24800000000000003" />
        <parent link="oven_area_area_left_drawer_main" />
        <child link="oven_area_area_left_drawer_barrier_1_back_link" />
    </joint>
    <link name="oven_area_area_left_drawer_board_2_link">
        <inertial>
            <origin rpy="0 0 0" xyz="0.0 0.0 0.0" />
            <mass value="1" />
            <inertia ixx="1" ixy="0.0" ixz="0.0" iyy="1" iyz="0.0" izz="1" />
        </inertial>
        <visual>
            <origin rpy="0 0 0" xyz="0 0 0" />
            <geometry>
                <box size="0.49 0.25 0.036" />
            </geometry>
        </visual>
        <collision>
            <origin rpy="0 0 0" xyz="0 0 0" />
            <geometry>
                <box size="0.49 0.25 0.036" />
            </geometry>
        </collision>
    </link>
    <joint name="oven_area_area_left_drawer_board_2_joint" type="fixed">
        <origin xyz="-0.25 0 0.05" />
        <parent link="oven_area_area_left_drawer_main" />
        <child link="oven_area_area_left_drawer_board_2_link" />
    </joint>
    <link name="oven_area_area_left_drawer_barrier_2_right_link">
        <inertial>
            <origin rpy="0 0 0" xyz="0.0 0.0 0.0" />
            <mass value="1" />
            <inertia ixx="1" ixy="0.0" ixz="0.0" iyy="1" iyz="0.0" izz="1" />
        </inertial>
        <visual>
            <origin rpy="0 0 0" xyz="0 0 0" />
            <geometry>
                <box size="0.49 0.036 0.1" />
            </geometry>
        </visual>
        <collision>
            <origin rpy="0 0 0" xyz="0 0 0" />
            <geometry>
                <box size="0.49 0.036 0.1" />
            </geometry>
        </collision>
    </link>
    <joint name="oven_area_area_left_drawer_barrier_2_right_joint" type="fixed">
        <origin xyz="-0.25 -0.107 0.082" />
        <parent link="oven_area_area_left_drawer_main" />
        <child link="oven_area_area_left_drawer_barrier_2_right_link" />
    </joint>
    <link name="oven_area_area_left_drawer_barrier_2_left_link">
        <inertial>
            <origin rpy="0 0 0" xyz="0.0 0.0 0.0" />
            <mass value="1" />
            <inertia ixx="1" ixy="0.0" ixz="0.0" iyy="1" iyz="0.0" izz="1" />
        </inertial>
        <visual>
            <origin rpy="0 0 0" xyz="0 0 0" />
            <geometry>
                <box size="0.49 0.036 0.1" />
            </geometry>
        </visual>
        <collision>
            <origin rpy="0 0 0" xyz="0 0 0" />
            <geometry>
                <box size="0.49 0.036 0.1" />
            </geometry>
        </collision>
    </link>
    <joint name="oven_area_area_left_drawer_barrier_2_left_joint" type="fixed">
        <origin xyz="-0.25 0.107 0.082" />
        <parent link="oven_area_area_left_drawer_main" />
        <child link="oven_area_area_left_drawer_barrier_2_left_link" />
    </joint>
    <link name="oven_area_area_left_drawer_barrier_2_back_link">
        <inertial>
            <origin rpy="0 0 0" xyz="0.0 0.0 0.0" />
            <mass value="1" />
            <inertia ixx="1" ixy="0.0" ixz="0.0" iyy="1" iyz="0.0" izz="1" />
        </inertial>
        <visual>
            <origin rpy="0 0 0" xyz="0 0 0" />
            <geometry>
                <box size="0.036 0.25 0.1" />
            </geometry>
        </visual>
        <collision>
            <origin rpy="0 0 0" xyz="0 0 0" />
            <geometry>
                <box size="0.036 0.25 0.1" />
            </geometry>
        </collision>
    </link>
    <joint name="oven_area_area_left_drawer_barrier_2_back_joint" type="fixed">
        <origin xyz="-0.477 0 0.082" />
        <parent link="oven_area_area_left_drawer_main" />
        <child link="oven_area_area_left_drawer_barrier_2_back_link" />
    </joint>
    <link name="oven_area_area_left_drawer_board_3_link">
        <inertial>
            <origin rpy="0 0 0" xyz="0.0 0.0 0.0" />
            <mass value="1" />
            <inertia ixx="1" ixy="0.0" ixz="0.0" iyy="1" iyz="0.0" izz="1" />
        </inertial>
        <visual>
            <origin rpy="0 0 0" xyz="0 0 0" />
            <geometry>
                <box size="0.49 0.25 0.036" />
            </geometry>
        </visual>
        <collision>
            <origin rpy="0 0 0" xyz="0 0 0" />
            <geometry>
                <box size="0.49 0.25 0.036" />
            </geometry>
        </collision>
    </link>
    <joint name="oven_area_area_left_drawer_board_3_joint" type="fixed">
        <origin xyz="-0.25 0 0.38" />
        <parent link="oven_area_area_left_drawer_main" />
        <child link="oven_area_area_left_drawer_board_3_link" />
    </joint>
    <link name="oven_area_area_left_drawer_barrier_3_right_link">
        <inertial>
            <origin rpy="0 0 0" xyz="0.0 0.0 0.0" />
            <mass value="1" />
            <inertia ixx="1" ixy="0.0" ixz="0.0" iyy="1" iyz="0.0" izz="1" />
        </inertial>
        <visual>
            <origin rpy="0 0 0" xyz="0 0 0" />
            <geometry>
                <box size="0.49 0.036 0.1" />
            </geometry>
        </visual>
        <collision>
            <origin rpy="0 0 0" xyz="0 0 0" />
            <geometry>
                <box size="0.49 0.036 0.1" />
            </geometry>
        </collision>
    </link>
    <joint name="oven_area_area_left_drawer_barrier_3_right_joint" type="fixed">
        <origin xyz="-0.25 -0.107 0.412" />
        <parent link="oven_area_area_left_drawer_main" />
        <child link="oven_area_area_left_drawer_barrier_3_right_link" />
    </joint>
    <link name="oven_area_area_left_drawer_barrier_3_left_link">
        <inertial>
            <origin rpy="0 0 0" xyz="0.0 0.0 0.0" />
            <mass value="1" />
            <inertia ixx="1" ixy="0.0" ixz="0.0" iyy="1" iyz="0.0" izz="1" />
        </inertial>
        <visual>
            <origin rpy="0 0 0" xyz="0 0 0" />
            <geometry>
                <box size="0.49 0.036 0.1" />
            </geometry>
        </visual>
        <collision>
            <origin rpy="0 0 0" xyz="0 0 0" />
            <geometry>
                <box size="0.49 0.036 0.1" />
            </geometry>
        </collision>
    </link>
    <joint name="oven_area_area_left_drawer_barrier_3_left_joint" type="fixed">
        <origin xyz="-0.25 0.107 0.412" />
        <parent link="oven_area_area_left_drawer_main" />
        <child link="oven_area_area_left_drawer_barrier_3_left_link" />
    </joint>
    <link name="oven_area_area_left_drawer_barrier_3_back_link">
        <inertial>
            <origin rpy="0 0 0" xyz="0.0 0.0 0.0" />
            <mass value="1" />
            <inertia ixx="1" ixy="0.0" ixz="0.0" iyy="1" iyz="0.0" izz="1" />
        </inertial>
        <visual>
            <origin rpy="0 0 0" xyz="0 0 0" />
            <geometry>
                <box size="0.036 0.25 0.1" />
            </geometry>
        </visual>
        <collision>
            <origin rpy="0 0 0" xyz="0 0 0" />
            <geometry>
                <box size="0.036 0.25 0.1" />
            </geometry>
        </collision>
    </link>
    <joint name="oven_area_area_left_drawer_barrier_3_back_joint" type="fixed">
        <origin xyz="-0.477 0 0.412" />
        <parent link="oven_area_area_left_drawer_main" />
        <child link="oven_area_area_left_drawer_barrier_3_back_link" />
    </joint>
    <joint name="oven_area_area_right_drawer_main_joint" type="prismatic">
        <origin rpy="0 0 0" xyz="0.29 0.45 0.07" />
        <parent link="oven_area_area" />
        <child link="oven_area_area_right_drawer_main" />
        <axis xyz="1. 0. 0.0" />
        <limit effort="300" lower="0" upper="0.48" velocity="10" />
    </joint>
    <link name="oven_area_area_right_drawer_main">
        <inertial>
            <origin rpy="0 0 0" xyz="0.0 0.0 0.0" />
            <mass value="1" />
            <inertia ixx="1" ixy="0.0" ixz="0.0" iyy="1" iyz="0.0" izz="1" />
        </inertial>
        <visual>
            <origin rpy="0 0 0" xyz="0 0 0" />
            <geometry>
                <box size="0.025 0.3 1.33" />
            </geometry>
            <material name="KitchenLightGray">
                <color rgba="0.7 0.7 0.7 1.0" />
            </material>
        </visual>
        <collision>
            <origin rpy="0 0 0" xyz="0 0 0" />
            <geometry>
                <box size="0.025 0.3 1.33" />
            </geometry>
        </collision>
    </link>
    <joint name="oven_area_area_right_drawer_main_padding_joint" type="fixed">
        <parent link="oven_area_area_right_drawer_main" />
        <child link="oven_area_area_right_drawer_main_padding" />
        <origin rpy="0 0 0" xyz="-0.03 0.0 0.0" />
    </joint>
    <link name="oven_area_area_right_drawer_main_padding">
        <inertial>
            <origin rpy="0 0 0" xyz="0.0 0.0 0.0" />
            <mass value="1" />
            <inertia ixx="1" ixy="0.0" ixz="0.0" iyy="1" iyz="0.0" izz="1" />
        </inertial>
        <visual>
            <origin rpy="0 0 0" xyz="0 0 0" />
            <geometry>
                <box size="0.06 0.3 1.33" />
            </geometry>
        </visual>
        <collision>
            <origin rpy="0 0 0" xyz="0 0 0" />
            <geometry>
                <box size="0.06 0.3 1.33" />
            </geometry>
        </collision>
    </link>
    <joint name="oven_area_area_right_drawer_handle_joint" type="fixed">
        <origin rpy="-1.5707963267948966 0 0" xyz="0.08 0.0 0.05" />
        <parent link="oven_area_area_right_drawer_main" />
        <child link="oven_area_area_right_drawer_handle" />
    </joint>
    <link name="oven_area_area_right_drawer_handle">
        <inertial>
            <origin rpy="0 0 0" xyz="0.0 0.0 0.0" />
            <mass value="1" />
            <inertia ixx="1" ixy="0.0" ixz="0.0" iyy="1" iyz="0.0" izz="1" />
        </inertial>
        <visual>
            <origin rpy="1.5707963267948966 0 0" xyz="0 0 0" />
            <geometry>
                <mesh filename="package://iai_kitchen/meshes/handles/VHandle130.dae" />
            </geometry>
        </visual>
        <collision>
            <origin rpy="1.5707963267948966 0 0" xyz="0 0 0" />
            <geometry>
                <mesh filename="package://iai_kitchen/meshes/handles/VHandle130.obj" />
            </geometry>
        </collision>
    </link>
    <link name="oven_area_area_right_drawer_board_0_link">
        <inertial>
            <origin rpy="0 0 0" xyz="0.0 0.0 0.0" />
            <mass value="1" />
            <inertia ixx="1" ixy="0.0" ixz="0.0" iyy="1" iyz="0.0" izz="1" />
        </inertial>
        <visual>
            <origin rpy="0 0 0" xyz="0 0 0" />
            <geometry>
                <box size="0.49 0.25 0.036" />
            </geometry>
        </visual>
        <collision>
            <origin rpy="0 0 0" xyz="0 0 0" />
            <geometry>
                <box size="0.49 0.25 0.036" />
            </geometry>
        </collision>
    </link>
    <joint name="oven_area_area_right_drawer_board_0_joint" type="fixed">
        <origin xyz="-0.25 0 -0.6" />
        <parent link="oven_area_area_right_drawer_main" />
        <child link="oven_area_area_right_drawer_board_0_link" />
    </joint>
    <link name="oven_area_area_right_drawer_barrier_0_right_link">
        <inertial>
            <origin rpy="0 0 0" xyz="0.0 0.0 0.0" />
            <mass value="1" />
            <inertia ixx="1" ixy="0.0" ixz="0.0" iyy="1" iyz="0.0" izz="1" />
        </inertial>
        <visual>
            <origin rpy="0 0 0" xyz="0 0 0" />
            <geometry>
                <box size="0.49 0.036 0.1" />
            </geometry>
        </visual>
        <collision>
            <origin rpy="0 0 0" xyz="0 0 0" />
            <geometry>
                <box size="0.49 0.036 0.1" />
            </geometry>
        </collision>
    </link>
    <joint name="oven_area_area_right_drawer_barrier_0_right_joint" type="fixed">
        <origin xyz="-0.25 -0.107 -0.568" />
        <parent link="oven_area_area_right_drawer_main" />
        <child link="oven_area_area_right_drawer_barrier_0_right_link" />
    </joint>
    <link name="oven_area_area_right_drawer_barrier_0_left_link">
        <inertial>
            <origin rpy="0 0 0" xyz="0.0 0.0 0.0" />
            <mass value="1" />
            <inertia ixx="1" ixy="0.0" ixz="0.0" iyy="1" iyz="0.0" izz="1" />
        </inertial>
        <visual>
            <origin rpy="0 0 0" xyz="0 0 0" />
            <geometry>
                <box size="0.49 0.036 0.1" />
            </geometry>
        </visual>
        <collision>
            <origin rpy="0 0 0" xyz="0 0 0" />
            <geometry>
                <box size="0.49 0.036 0.1" />
            </geometry>
        </collision>
    </link>
    <joint name="oven_area_area_right_drawer_barrier_0_left_joint" type="fixed">
        <origin xyz="-0.25 0.107 -0.568" />
        <parent link="oven_area_area_right_drawer_main" />
        <child link="oven_area_area_right_drawer_barrier_0_left_link" />
    </joint>
    <link name="oven_area_area_right_drawer_barrier_0_back_link">
        <inertial>
            <origin rpy="0 0 0" xyz="0.0 0.0 0.0" />
            <mass value="1" />
            <inertia ixx="1" ixy="0.0" ixz="0.0" iyy="1" iyz="0.0" izz="1" />
        </inertial>
        <visual>
            <origin rpy="0 0 0" xyz="0 0 0" />
            <geometry>
                <box size="0.036 0.25 0.1" />
            </geometry>
        </visual>
        <collision>
            <origin rpy="0 0 0" xyz="0 0 0" />
            <geometry>
                <box size="0.036 0.25 0.1" />
            </geometry>
        </collision>
    </link>
    <joint name="oven_area_area_right_drawer_barrier_0_back_joint" type="fixed">
        <origin xyz="-0.477 0 -0.568" />
        <parent link="oven_area_area_right_drawer_main" />
        <child link="oven_area_area_right_drawer_barrier_0_back_link" />
    </joint>
    <link name="oven_area_area_right_drawer_board_1_link">
        <inertial>
            <origin rpy="0 0 0" xyz="0.0 0.0 0.0" />
            <mass value="1" />
            <inertia ixx="1" ixy="0.0" ixz="0.0" iyy="1" iyz="0.0" izz="1" />
        </inertial>
        <visual>
            <origin rpy="0 0 0" xyz="0 0 0" />
            <geometry>
                <box size="0.49 0.25 0.036" />
            </geometry>
        </visual>
        <collision>
            <origin rpy="0 0 0" xyz="0 0 0" />
            <geometry>
                <box size="0.49 0.25 0.036" />
            </geometry>
        </collision>
    </link>
    <joint name="oven_area_area_right_drawer_board_1_joint" type="fixed">
        <origin xyz="-0.25 0 -0.28" />
        <parent link="oven_area_area_right_drawer_main" />
        <child link="oven_area_area_right_drawer_board_1_link" />
    </joint>
    <link name="oven_area_area_right_drawer_barrier_1_right_link">
        <inertial>
            <origin rpy="0 0 0" xyz="0.0 0.0 0.0" />
            <mass value="1" />
            <inertia ixx="1" ixy="0.0" ixz="0.0" iyy="1" iyz="0.0" izz="1" />
        </inertial>
        <visual>
            <origin rpy="0 0 0" xyz="0 0 0" />
            <geometry>
                <box size="0.49 0.036 0.1" />
            </geometry>
        </visual>
        <collision>
            <origin rpy="0 0 0" xyz="0 0 0" />
            <geometry>
                <box size="0.49 0.036 0.1" />
            </geometry>
        </collision>
    </link>
    <joint name="oven_area_area_right_drawer_barrier_1_right_joint" type="fixed">
        <origin xyz="-0.25 -0.107 -0.24800000000000003" />
        <parent link="oven_area_area_right_drawer_main" />
        <child link="oven_area_area_right_drawer_barrier_1_right_link" />
    </joint>
    <link name="oven_area_area_right_drawer_barrier_1_left_link">
        <inertial>
            <origin rpy="0 0 0" xyz="0.0 0.0 0.0" />
            <mass value="1" />
            <inertia ixx="1" ixy="0.0" ixz="0.0" iyy="1" iyz="0.0" izz="1" />
        </inertial>
        <visual>
            <origin rpy="0 0 0" xyz="0 0 0" />
            <geometry>
                <box size="0.49 0.036 0.1" />
            </geometry>
        </visual>
        <collision>
            <origin rpy="0 0 0" xyz="0 0 0" />
            <geometry>
                <box size="0.49 0.036 0.1" />
            </geometry>
        </collision>
    </link>
    <joint name="oven_area_area_right_drawer_barrier_1_left_joint" type="fixed">
        <origin xyz="-0.25 0.107 -0.24800000000000003" />
        <parent link="oven_area_area_right_drawer_main" />
        <child link="oven_area_area_right_drawer_barrier_1_left_link" />
    </joint>
    <link name="oven_area_area_right_drawer_barrier_1_back_link">
        <inertial>
            <origin rpy="0 0 0" xyz="0.0 0.0 0.0" />
            <mass value="1" />
            <inertia ixx="1" ixy="0.0" ixz="0.0" iyy="1" iyz="0.0" izz="1" />
        </inertial>
        <visual>
            <origin rpy="0 0 0" xyz="0 0 0" />
            <geometry>
                <box size="0.036 0.25 0.1" />
            </geometry>
        </visual>
        <collision>
            <origin rpy="0 0 0" xyz="0 0 0" />
            <geometry>
                <box size="0.036 0.25 0.1" />
            </geometry>
        </collision>
    </link>
    <joint name="oven_area_area_right_drawer_barrier_1_back_joint" type="fixed">
        <origin xyz="-0.477 0 -0.24800000000000003" />
        <parent link="oven_area_area_right_drawer_main" />
        <child link="oven_area_area_right_drawer_barrier_1_back_link" />
    </joint>
    <link name="oven_area_area_right_drawer_board_2_link">
        <inertial>
            <origin rpy="0 0 0" xyz="0.0 0.0 0.0" />
            <mass value="1" />
            <inertia ixx="1" ixy="0.0" ixz="0.0" iyy="1" iyz="0.0" izz="1" />
        </inertial>
        <visual>
            <origin rpy="0 0 0" xyz="0 0 0" />
            <geometry>
                <box size="0.49 0.25 0.036" />
            </geometry>
        </visual>
        <collision>
            <origin rpy="0 0 0" xyz="0 0 0" />
            <geometry>
                <box size="0.49 0.25 0.036" />
            </geometry>
        </collision>
    </link>
    <joint name="oven_area_area_right_drawer_board_2_joint" type="fixed">
        <origin xyz="-0.25 0 0.05" />
        <parent link="oven_area_area_right_drawer_main" />
        <child link="oven_area_area_right_drawer_board_2_link" />
    </joint>
    <link name="oven_area_area_right_drawer_barrier_2_right_link">
        <inertial>
            <origin rpy="0 0 0" xyz="0.0 0.0 0.0" />
            <mass value="1" />
            <inertia ixx="1" ixy="0.0" ixz="0.0" iyy="1" iyz="0.0" izz="1" />
        </inertial>
        <visual>
            <origin rpy="0 0 0" xyz="0 0 0" />
            <geometry>
                <box size="0.49 0.036 0.1" />
            </geometry>
        </visual>
        <collision>
            <origin rpy="0 0 0" xyz="0 0 0" />
            <geometry>
                <box size="0.49 0.036 0.1" />
            </geometry>
        </collision>
    </link>
    <joint name="oven_area_area_right_drawer_barrier_2_right_joint" type="fixed">
        <origin xyz="-0.25 -0.107 0.082" />
        <parent link="oven_area_area_right_drawer_main" />
        <child link="oven_area_area_right_drawer_barrier_2_right_link" />
    </joint>
    <link name="oven_area_area_right_drawer_barrier_2_left_link">
        <inertial>
            <origin rpy="0 0 0" xyz="0.0 0.0 0.0" />
            <mass value="1" />
            <inertia ixx="1" ixy="0.0" ixz="0.0" iyy="1" iyz="0.0" izz="1" />
        </inertial>
        <visual>
            <origin rpy="0 0 0" xyz="0 0 0" />
            <geometry>
                <box size="0.49 0.036 0.1" />
            </geometry>
        </visual>
        <collision>
            <origin rpy="0 0 0" xyz="0 0 0" />
            <geometry>
                <box size="0.49 0.036 0.1" />
            </geometry>
        </collision>
    </link>
    <joint name="oven_area_area_right_drawer_barrier_2_left_joint" type="fixed">
        <origin xyz="-0.25 0.107 0.082" />
        <parent link="oven_area_area_right_drawer_main" />
        <child link="oven_area_area_right_drawer_barrier_2_left_link" />
    </joint>
    <link name="oven_area_area_right_drawer_barrier_2_back_link">
        <inertial>
            <origin rpy="0 0 0" xyz="0.0 0.0 0.0" />
            <mass value="1" />
            <inertia ixx="1" ixy="0.0" ixz="0.0" iyy="1" iyz="0.0" izz="1" />
        </inertial>
        <visual>
            <origin rpy="0 0 0" xyz="0 0 0" />
            <geometry>
                <box size="0.036 0.25 0.1" />
            </geometry>
        </visual>
        <collision>
            <origin rpy="0 0 0" xyz="0 0 0" />
            <geometry>
                <box size="0.036 0.25 0.1" />
            </geometry>
        </collision>
    </link>
    <joint name="oven_area_area_right_drawer_barrier_2_back_joint" type="fixed">
        <origin xyz="-0.477 0 0.082" />
        <parent link="oven_area_area_right_drawer_main" />
        <child link="oven_area_area_right_drawer_barrier_2_back_link" />
    </joint>
    <link name="oven_area_area_right_drawer_board_3_link">
        <inertial>
            <origin rpy="0 0 0" xyz="0.0 0.0 0.0" />
            <mass value="1" />
            <inertia ixx="1" ixy="0.0" ixz="0.0" iyy="1" iyz="0.0" izz="1" />
        </inertial>
        <visual>
            <origin rpy="0 0 0" xyz="0 0 0" />
            <geometry>
                <box size="0.49 0.25 0.036" />
            </geometry>
        </visual>
        <collision>
            <origin rpy="0 0 0" xyz="0 0 0" />
            <geometry>
                <box size="0.49 0.25 0.036" />
            </geometry>
        </collision>
    </link>
    <joint name="oven_area_area_right_drawer_board_3_joint" type="fixed">
        <origin xyz="-0.25 0 0.38" />
        <parent link="oven_area_area_right_drawer_main" />
        <child link="oven_area_area_right_drawer_board_3_link" />
    </joint>
    <link name="oven_area_area_right_drawer_barrier_3_right_link">
        <inertial>
            <origin rpy="0 0 0" xyz="0.0 0.0 0.0" />
            <mass value="1" />
            <inertia ixx="1" ixy="0.0" ixz="0.0" iyy="1" iyz="0.0" izz="1" />
        </inertial>
        <visual>
            <origin rpy="0 0 0" xyz="0 0 0" />
            <geometry>
                <box size="0.49 0.036 0.1" />
            </geometry>
        </visual>
        <collision>
            <origin rpy="0 0 0" xyz="0 0 0" />
            <geometry>
                <box size="0.49 0.036 0.1" />
            </geometry>
        </collision>
    </link>
    <joint name="oven_area_area_right_drawer_barrier_3_right_joint" type="fixed">
        <origin xyz="-0.25 -0.107 0.412" />
        <parent link="oven_area_area_right_drawer_main" />
        <child link="oven_area_area_right_drawer_barrier_3_right_link" />
    </joint>
    <link name="oven_area_area_right_drawer_barrier_3_left_link">
        <inertial>
            <origin rpy="0 0 0" xyz="0.0 0.0 0.0" />
            <mass value="1" />
            <inertia ixx="1" ixy="0.0" ixz="0.0" iyy="1" iyz="0.0" izz="1" />
        </inertial>
        <visual>
            <origin rpy="0 0 0" xyz="0 0 0" />
            <geometry>
                <box size="0.49 0.036 0.1" />
            </geometry>
        </visual>
        <collision>
            <origin rpy="0 0 0" xyz="0 0 0" />
            <geometry>
                <box size="0.49 0.036 0.1" />
            </geometry>
        </collision>
    </link>
    <joint name="oven_area_area_right_drawer_barrier_3_left_joint" type="fixed">
        <origin xyz="-0.25 0.107 0.412" />
        <parent link="oven_area_area_right_drawer_main" />
        <child link="oven_area_area_right_drawer_barrier_3_left_link" />
    </joint>
    <link name="oven_area_area_right_drawer_barrier_3_back_link">
        <inertial>
            <origin rpy="0 0 0" xyz="0.0 0.0 0.0" />
            <mass value="1" />
            <inertia ixx="1" ixy="0.0" ixz="0.0" iyy="1" iyz="0.0" izz="1" />
        </inertial>
        <visual>
            <origin rpy="0 0 0" xyz="0 0 0" />
            <geometry>
                <box size="0.036 0.25 0.1" />
            </geometry>
        </visual>
        <collision>
            <origin rpy="0 0 0" xyz="0 0 0" />
            <geometry>
                <box size="0.036 0.25 0.1" />
            </geometry>
        </collision>
    </link>
    <joint name="oven_area_area_right_drawer_barrier_3_back_joint" type="fixed">
        <origin xyz="-0.477 0 0.412" />
        <parent link="oven_area_area_right_drawer_main" />
        <child link="oven_area_area_right_drawer_barrier_3_back_link" />
    </joint>
    <link name="kitchen_island_footprint">
        <inertial>
            <origin rpy="0 0 0" xyz="0.0 0.0 0.0" />
            <mass value="1" />
            <inertia ixx="1" ixy="0.0" ixz="0.0" iyy="1" iyz="0.0" izz="1" />
        </inertial>
    </link>
    <link name="kitchen_island">
        <inertial>
            <origin rpy="0 0 0" xyz="0.0 0.0 0.0" />
            <mass value="1" />
            <inertia ixx="1" ixy="0.0" ixz="0.0" iyy="1" iyz="0.0" izz="1" />
        </inertial>
        <visual>
            <origin rpy="0 0 0" xyz="0 0 0" />
            <geometry>
                <mesh filename="package://iai_kitchen/meshes/racks/IslandArea.dae" />
            </geometry>
        </visual>
        <collision>
            <origin rpy="0 0 0" xyz="0 0 0" />
            <geometry>
                <mesh filename="package://iai_kitchen/meshes/racks/IslandArea.obj" />
            </geometry>
        </collision>
    </link>
    <joint name="kitchen_island_footprint_joint" type="fixed">
        <origin rpy="0 0 0" xyz="-1.363 0.59 0" />
        <child link="kitchen_island_footprint" />
        <parent link="room_link" />
    </joint>
    <joint name="kitchen_island_joint" type="fixed">
        <origin rpy="0 0 0" xyz="0.2975 1.1292 0.421" />
        <parent link="kitchen_island_footprint" />
        <child link="kitchen_island" />
    </joint>
    <link name="kitchen_island_surface">
        <inertial>
            <origin rpy="0 0 0" xyz="0.0 0.0 0.0" />
            <mass value="1" />
            <inertia ixx="1" ixy="0.0" ixz="0.0" iyy="1" iyz="0.0" izz="1" />
        </inertial>
        <collision>
            <origin rpy="0 0 0" xyz="0 0 0" />
            <geometry>
                <box size="0.8 2.45 0.02" />
            </geometry>
        </collision>
    </link>
    <joint name="kitchen_island_surface_joint" type="fixed">
        <origin rpy="0 0 0" xyz="0.0 0. 0.42" />
        <parent link="kitchen_island" />
        <child link="kitchen_island_surface" />
    </joint>
    <link name="kitchen_island_stove">
        <inertial>
            <origin rpy="0 0 0" xyz="0.0 0.0 0.0" />
            <mass value="1" />
            <inertia ixx="1" ixy="0.0" ixz="0.0" iyy="1" iyz="0.0" izz="1" />
        </inertial>
        <visual>
            <origin rpy="0 0 0" xyz="0 0 0" />
            <geometry>
                <mesh filename="package://iai_kitchen/meshes/misc/Stove.dae" />
            </geometry>
        </visual>
        <collision>
            <origin rpy="0 0 0" xyz="0 0 0" />
            <geometry>
                <mesh filename="package://iai_kitchen/meshes/misc/Stove.obj" />
            </geometry>
        </collision>
    </link>
    <joint name="kitchen_island_stove_joint" type="fixed">
        <origin rpy="0 0 0" xyz="0.0 0.7658 0.4315" />
        <parent link="kitchen_island" />
        <child link="kitchen_island_stove" />
    </joint>
    <link name="kitchen_island_left_panel">
        <inertial>
            <origin rpy="0 0 0" xyz="0.0 0.0 0.0" />
            <mass value="1" />
            <inertia ixx="1" ixy="0.0" ixz="0.0" iyy="1" iyz="0.0" izz="1" />
        </inertial>
        <visual>
            <origin rpy="0 0 0" xyz="0 0 0" />
            <geometry>
                <mesh filename="package://iai_kitchen/meshes/drawers/Panel_60.dae" />
            </geometry>
        </visual>
        <collision>
            <origin rpy="0 0 0" xyz="0 0 0" />
            <geometry>
                <mesh filename="package://iai_kitchen/meshes/drawers/Panel_60.obj" />
            </geometry>
        </collision>
    </link>
    <joint name="kitchen_island_left_panel_joint" type="fixed">
        <origin rpy="0 0 0" xyz="0.2725 -0.8 0.329 " />
        <parent link="kitchen_island" />
        <child link="kitchen_island_left_panel" />
    </joint>
    <link name="kitchen_island_left_upper_drawer_main">
        <inertial>
            <origin rpy="0 0 0" xyz="0.0 0.0 0.0" />
            <mass value="1" />
            <inertia ixx="1" ixy="0.0" ixz="0.0" iyy="1" iyz="0.0" izz="1" />
        </inertial>
        <visual>
            <origin rpy="0 0 0" xyz="0 0 0" />
            <geometry>
                <mesh filename="package://iai_kitchen/meshes/drawers/Drawer_60_29.dae" />
            </geometry>
        </visual>
        <collision>
            <origin rpy="0 0 0" xyz="0 0 0" />
            <geometry>
                <mesh filename="package://iai_kitchen/meshes/drawers/Drawer_60_29.obj" />
            </geometry>
        </collision>
    </link>
    <link name="kitchen_island_left_upper_drawer_handle">
        <inertial>
            <origin rpy="0 0 0" xyz="0.0 0.0 0.0" />
            <mass value="1" />
            <inertia ixx="1" ixy="0.0" ixz="0.0" iyy="1" iyz="0.0" izz="1" />
        </inertial>
        <visual>
            <origin rpy="0 0 0" xyz="0 0 0" />
            <geometry>
                <mesh filename="package://iai_kitchen/meshes/handles/Handle60.dae" />
            </geometry>
        </visual>
        <collision>
            <origin rpy="0 0 0" xyz="0 0 0" />
            <geometry>
                <mesh filename="package://iai_kitchen/meshes/handles/Handle60.obj" />
            </geometry>
        </collision>
    </link>
    <joint name="kitchen_island_left_upper_drawer_main_joint" type="prismatic">
        <origin rpy="0 0 0" xyz="0.0025 -0.8 0.114 " />
        <parent link="kitchen_island" />
        <child link="kitchen_island_left_upper_drawer_main" />
        <axis xyz="1. 0. 0.0" />
        <limit effort="300" lower="0" upper="0.48" velocity="10" />
        <!--
          <limit effort="300" lower="0" upper="0" velocity="10"/>
      -->
    </joint>
    <joint name="kitchen_island_left_upper_drawer_handle_joint" type="fixed">
        <origin rpy="0 0 0" xyz="0.3525 0 0.11" />
        <parent link="kitchen_island_left_upper_drawer_main" />
        <child link="kitchen_island_left_upper_drawer_handle" />
        <axis xyz="0 0 1" />
        <limit effort="300" lower="0" upper="1.5707963267948966" velocity="10" />
    </joint>
    <link name="kitchen_island_left_lower_drawer_main">
        <inertial>
            <origin rpy="0 0 0" xyz="0.0 0.0 0.0" />
            <mass value="1" />
            <inertia ixx="1" ixy="0.0" ixz="0.0" iyy="1" iyz="0.0" izz="1" />
        </inertial>
        <visual>
            <origin rpy="0 0 0" xyz="0 0 0" />
            <geometry>
                <mesh filename="package://iai_kitchen/meshes/drawers/Drawer_60_29.dae" />
            </geometry>
        </visual>
        <collision>
            <origin rpy="0 0 0" xyz="0 0 0" />
            <geometry>
                <mesh filename="package://iai_kitchen/meshes/drawers/Drawer_60_29.obj" />
            </geometry>
        </collision>
    </link>
    <link name="kitchen_island_left_lower_drawer_handle">
        <inertial>
            <origin rpy="0 0 0" xyz="0.0 0.0 0.0" />
            <mass value="1" />
            <inertia ixx="1" ixy="0.0" ixz="0.0" iyy="1" iyz="0.0" izz="1" />
        </inertial>
        <visual>
            <origin rpy="0 0 0" xyz="0 0 0" />
            <geometry>
                <mesh filename="package://iai_kitchen/meshes/handles/Handle60.dae" />
            </geometry>
        </visual>
        <collision>
            <origin rpy="0 0 0" xyz="0 0 0" />
            <geometry>
                <mesh filename="package://iai_kitchen/meshes/handles/Handle60.obj" />
            </geometry>
        </collision>
    </link>
    <joint name="kitchen_island_left_lower_drawer_main_joint" type="prismatic">
        <origin rpy="0 0 0" xyz="0.0025 -0.8 -0.176 " />
        <parent link="kitchen_island" />
        <child link="kitchen_island_left_lower_drawer_main" />
        <axis xyz="1. 0. 0.0" />
        <limit effort="300" lower="0" upper="0.48" velocity="10" />
        <!--
          <limit effort="300" lower="0" upper="0" velocity="10"/>
      -->
    </joint>
    <joint name="kitchen_island_left_lower_drawer_handle_joint" type="fixed">
        <origin rpy="0 0 0" xyz="0.3525 0 0.11" />
        <parent link="kitchen_island_left_lower_drawer_main" />
        <child link="kitchen_island_left_lower_drawer_handle" />
        <axis xyz="0 0 1" />
        <limit effort="300" lower="0" upper="1.5707963267948966" velocity="10" />
    </joint>
    <link name="kitchen_island_middle_panel">
        <inertial>
            <origin rpy="0 0 0" xyz="0.0 0.0 0.0" />
            <mass value="1" />
            <inertia ixx="1" ixy="0.0" ixz="0.0" iyy="1" iyz="0.0" izz="1" />
        </inertial>
        <visual>
            <origin rpy="0 0 0" xyz="0 0 0" />
            <geometry>
                <mesh filename="package://iai_kitchen/meshes/drawers/Panel_100.dae" />
            </geometry>
        </visual>
        <collision>
            <origin rpy="0 0 0" xyz="0 0 0" />
            <geometry>
                <mesh filename="package://iai_kitchen/meshes/drawers/Panel_100.obj" />
            </geometry>
        </collision>
    </link>
    <joint name="kitchen_island_middle_panel_joint" type="fixed">
        <origin rpy="0 0 0" xyz="0.2725 0 0.329 " />
        <parent link="kitchen_island" />
        <child link="kitchen_island_middle_panel" />
    </joint>
    <link name="kitchen_island_middle_upper_drawer_main">
        <inertial>
            <origin rpy="0 0 0" xyz="0.0 0.0 0.0" />
            <mass value="1" />
            <inertia ixx="1" ixy="0.0" ixz="0.0" iyy="1" iyz="0.0" izz="1" />
        </inertial>
        <visual>
            <origin rpy="0 0 0" xyz="0 0 0" />
            <geometry>
                <mesh filename="package://iai_kitchen/meshes/drawers/Drawer_100_29.dae" />
            </geometry>
        </visual>
        <collision>
            <origin rpy="0 0 0" xyz="0 0 0" />
            <geometry>
                <mesh filename="package://iai_kitchen/meshes/drawers/Drawer_100_29.obj" />
            </geometry>
        </collision>
    </link>
    <link name="kitchen_island_middle_upper_drawer_handle">
        <inertial>
            <origin rpy="0 0 0" xyz="0.0 0.0 0.0" />
            <mass value="1" />
            <inertia ixx="1" ixy="0.0" ixz="0.0" iyy="1" iyz="0.0" izz="1" />
        </inertial>
        <visual>
            <origin rpy="0 0 0" xyz="0 0 0" />
            <geometry>
                <mesh filename="package://iai_kitchen/meshes/handles/Handle100.dae" />
            </geometry>
        </visual>
        <collision>
            <origin rpy="0 0 0" xyz="0 0 0" />
            <geometry>
                <mesh filename="package://iai_kitchen/meshes/handles/Handle100.obj" />
            </geometry>
        </collision>
    </link>
    <joint name="kitchen_island_middle_upper_drawer_main_joint" type="prismatic">
        <origin rpy="0 0 0" xyz="0.0025 0 0.114 " />
        <parent link="kitchen_island" />
        <child link="kitchen_island_middle_upper_drawer_main" />
        <axis xyz="1. 0. 0.0" />
        <limit effort="300" lower="0" upper="0.48" velocity="10" />
        <!--
          <limit effort="300" lower="0" upper="0" velocity="10"/>
      -->
    </joint>
    <joint name="kitchen_island_middle_upper_drawer_handle_joint" type="fixed">
        <origin rpy="0 0 0" xyz="0.3525 0 0.11" />
        <parent link="kitchen_island_middle_upper_drawer_main" />
        <child link="kitchen_island_middle_upper_drawer_handle" />
        <axis xyz="0 0 1" />
        <limit effort="300" lower="0" upper="1.5707963267948966" velocity="10" />
    </joint>
    <link name="kitchen_island_middle_lower_drawer_main">
        <inertial>
            <origin rpy="0 0 0" xyz="0.0 0.0 0.0" />
            <mass value="1" />
            <inertia ixx="1" ixy="0.0" ixz="0.0" iyy="1" iyz="0.0" izz="1" />
        </inertial>
        <visual>
            <origin rpy="0 0 0" xyz="0 0 0" />
            <geometry>
                <mesh filename="package://iai_kitchen/meshes/drawers/Drawer_100_29.dae" />
            </geometry>
        </visual>
        <collision>
            <origin rpy="0 0 0" xyz="0 0 0" />
            <geometry>
                <mesh filename="package://iai_kitchen/meshes/drawers/Drawer_100_29.obj" />
            </geometry>
        </collision>
    </link>
    <link name="kitchen_island_middle_lower_drawer_handle">
        <inertial>
            <origin rpy="0 0 0" xyz="0.0 0.0 0.0" />
            <mass value="1" />
            <inertia ixx="1" ixy="0.0" ixz="0.0" iyy="1" iyz="0.0" izz="1" />
        </inertial>
        <visual>
            <origin rpy="0 0 0" xyz="0 0 0" />
            <geometry>
                <mesh filename="package://iai_kitchen/meshes/handles/Handle100.dae" />
            </geometry>
        </visual>
        <collision>
            <origin rpy="0 0 0" xyz="0 0 0" />
            <geometry>
                <mesh filename="package://iai_kitchen/meshes/handles/Handle100.obj" />
            </geometry>
        </collision>
    </link>
    <joint name="kitchen_island_middle_lower_drawer_main_joint" type="prismatic">
        <origin rpy="0 0 0" xyz="0.0025 0 -0.176 " />
        <parent link="kitchen_island" />
        <child link="kitchen_island_middle_lower_drawer_main" />
        <axis xyz="1. 0. 0.0" />
        <limit effort="300" lower="0" upper="0.48" velocity="10" />
        <!--
          <limit effort="300" lower="0" upper="0" velocity="10"/>
      -->
    </joint>
    <joint name="kitchen_island_middle_lower_drawer_handle_joint" type="fixed">
        <origin rpy="0 0 0" xyz="0.3525 0 0.11" />
        <parent link="kitchen_island_middle_lower_drawer_main" />
        <child link="kitchen_island_middle_lower_drawer_handle" />
        <axis xyz="0 0 1" />
        <limit effort="300" lower="0" upper="1.5707963267948966" velocity="10" />
    </joint>
    <link name="kitchen_island_right_panel">
        <inertial>
            <origin rpy="0 0 0" xyz="0.0 0.0 0.0" />
            <mass value="1" />
            <inertia ixx="1" ixy="0.0" ixz="0.0" iyy="1" iyz="0.0" izz="1" />
        </inertial>
        <visual>
            <origin rpy="0 0 0" xyz="0 0 0" />
            <geometry>
                <mesh filename="package://iai_kitchen/meshes/drawers/Panel_60.dae" />
            </geometry>
        </visual>
        <collision>
            <origin rpy="0 0 0" xyz="0 0 0" />
            <geometry>
                <mesh filename="package://iai_kitchen/meshes/drawers/Panel_60.obj" />
            </geometry>
        </collision>
    </link>
    <joint name="kitchen_island_right_panel_joint" type="fixed">
        <origin rpy="0 0 0" xyz="0.2725 0.8 0.329 " />
        <parent link="kitchen_island" />
        <child link="kitchen_island_right_panel" />
    </joint>
    <link name="kitchen_island_right_upper_drawer_main">
        <inertial>
            <origin rpy="0 0 0" xyz="0.0 0.0 0.0" />
            <mass value="1" />
            <inertia ixx="1" ixy="0.0" ixz="0.0" iyy="1" iyz="0.0" izz="1" />
        </inertial>
        <visual>
            <origin rpy="0 0 0" xyz="0 0 0" />
            <geometry>
                <mesh filename="package://iai_kitchen/meshes/drawers/Drawer_60_29.dae" />
            </geometry>
        </visual>
        <collision>
            <origin rpy="0 0 0" xyz="0 0 0" />
            <geometry>
                <mesh filename="package://iai_kitchen/meshes/drawers/Drawer_60_29.obj" />
            </geometry>
        </collision>
    </link>
    <link name="kitchen_island_right_upper_drawer_handle">
        <inertial>
            <origin rpy="0 0 0" xyz="0.0 0.0 0.0" />
            <mass value="1" />
            <inertia ixx="1" ixy="0.0" ixz="0.0" iyy="1" iyz="0.0" izz="1" />
        </inertial>
        <visual>
            <origin rpy="0 0 0" xyz="0 0 0" />
            <geometry>
                <mesh filename="package://iai_kitchen/meshes/handles/Handle60.dae" />
            </geometry>
        </visual>
        <collision>
            <origin rpy="0 0 0" xyz="0 0 0" />
            <geometry>
                <mesh filename="package://iai_kitchen/meshes/handles/Handle60.obj" />
            </geometry>
        </collision>
    </link>
    <joint name="kitchen_island_right_upper_drawer_main_joint" type="prismatic">
        <origin rpy="0 0 0" xyz="0.0025 0.8 0.114 " />
        <parent link="kitchen_island" />
        <child link="kitchen_island_right_upper_drawer_main" />
        <axis xyz="1. 0. 0.0" />
        <limit effort="300" lower="0" upper="0.48" velocity="10" />
        <!--
          <limit effort="300" lower="0" upper="0" velocity="10"/>
      -->
    </joint>
    <joint name="kitchen_island_right_upper_drawer_handle_joint" type="fixed">
        <origin rpy="0 0 0" xyz="0.3525 0 0.11" />
        <parent link="kitchen_island_right_upper_drawer_main" />
        <child link="kitchen_island_right_upper_drawer_handle" />
        <axis xyz="0 0 1" />
        <limit effort="300" lower="0" upper="1.5707963267948966" velocity="10" />
    </joint>
    <link name="kitchen_island_right_lower_drawer_main">
        <inertial>
            <origin rpy="0 0 0" xyz="0.0 0.0 0.0" />
            <mass value="1" />
            <inertia ixx="1" ixy="0.0" ixz="0.0" iyy="1" iyz="0.0" izz="1" />
        </inertial>
        <visual>
            <origin rpy="0 0 0" xyz="0 0 0" />
            <geometry>
                <mesh filename="package://iai_kitchen/meshes/drawers/Drawer_60_29.dae" />
            </geometry>
        </visual>
        <collision>
            <origin rpy="0 0 0" xyz="0 0 0" />
            <geometry>
                <mesh filename="package://iai_kitchen/meshes/drawers/Drawer_60_29.obj" />
            </geometry>
        </collision>
    </link>
    <link name="kitchen_island_right_lower_drawer_handle">
        <inertial>
            <origin rpy="0 0 0" xyz="0.0 0.0 0.0" />
            <mass value="1" />
            <inertia ixx="1" ixy="0.0" ixz="0.0" iyy="1" iyz="0.0" izz="1" />
        </inertial>
        <visual>
            <origin rpy="0 0 0" xyz="0 0 0" />
            <geometry>
                <mesh filename="package://iai_kitchen/meshes/handles/Handle60.dae" />
            </geometry>
        </visual>
        <collision>
            <origin rpy="0 0 0" xyz="0 0 0" />
            <geometry>
                <mesh filename="package://iai_kitchen/meshes/handles/Handle60.obj" />
            </geometry>
        </collision>
    </link>
    <joint name="kitchen_island_right_lower_drawer_main_joint" type="prismatic">
        <origin rpy="0 0 0" xyz="0.0025 0.8 -0.176 " />
        <parent link="kitchen_island" />
        <child link="kitchen_island_right_lower_drawer_main" />
        <axis xyz="1. 0. 0.0" />
        <limit effort="300" lower="0" upper="0.48" velocity="10" />
        <!--
          <limit effort="300" lower="0" upper="0" velocity="10"/>
      -->
    </joint>
    <joint name="kitchen_island_right_lower_drawer_handle_joint" type="fixed">
        <origin rpy="0 0 0" xyz="0.3525 0 0.11" />
        <parent link="kitchen_island_right_lower_drawer_main" />
        <child link="kitchen_island_right_lower_drawer_handle" />
        <axis xyz="0 0 1" />
        <limit effort="300" lower="0" upper="1.5707963267948966" velocity="10" />
    </joint>
    <link name="fridge_area_footprint">
        <inertial>
            <origin rpy="0 0 0" xyz="0.0 0.0 0.0" />
            <mass value="1" />
            <inertia ixx="1" ixy="0.0" ixz="0.0" iyy="1" iyz="0.0" izz="1" />
        </inertial>
    </link>
    <link name="fridge_area">
        <inertial>
            <origin rpy="0 0 0" xyz="0.0 0.0 0.0" />
            <mass value="1" />
            <inertia ixx="1" ixy="0.0" ixz="0.0" iyy="1" iyz="0.0" izz="1" />
        </inertial>
        <visual>
            <origin rpy="0 0 0" xyz="0 0 0.01" />
            <geometry>
                <mesh filename="package://iai_kitchen/meshes/racks/FridgeArea.dae" />
            </geometry>
        </visual>
        <collision>
            <origin rpy="0 0 0" xyz="0 0 0.01" />
            <geometry>
                <mesh filename="package://iai_kitchen/meshes/racks/FridgeArea.obj" />
                <!--mesh
                filename="package://iai_kitchen/meshes/collision/kitchen_fridge.stl"/-->
            </geometry>
        </collision>
    </link>
    <joint name="fridge_area_footprint_joint" type="fixed">
        <origin rpy="0 0 3.141592653589793" xyz="1.845 -0.73 0" />
        <child link="fridge_area_footprint" />
        <parent link="room_link" />
    </joint>
    <joint name="fridge_area_main_joint" type="fixed">
        <origin rpy="0 0 0" xyz="0.29 0.3 0.74" />
        <parent link="fridge_area_footprint" />
        <child link="fridge_area" />
    </joint>
    <link name="fridge_area_lower_drawer_main">
        <inertial>
            <origin rpy="0 0 0" xyz="0.0 0.0 0.0" />
            <mass value="1" />
            <inertia ixx="1" ixy="0.0" ixz="0.0" iyy="1" iyz="0.0" izz="1" />
        </inertial>
        <visual>
            <origin rpy="0 0 0" xyz="0 0 0" />
            <geometry>
                <mesh filename="package://iai_kitchen/meshes/drawers/Drawer_60_29.dae" />
            </geometry>
        </visual>
        <collision>
            <origin rpy="0 0 0" xyz="0 0 0" />
            <geometry>
                <mesh filename="package://iai_kitchen/meshes/drawers/Drawer_60_29.obj" />
            </geometry>
        </collision>
    </link>
    <link name="fridge_area_lower_drawer_handle">
        <inertial>
            <origin rpy="0 0 0" xyz="0.0 0.0 0.0" />
            <mass value="1" />
            <inertia ixx="1" ixy="0.0" ixz="0.0" iyy="1" iyz="0.0" izz="1" />
        </inertial>
        <visual>
            <origin rpy="0 0 0" xyz="0 0 0" />
            <geometry>
                <mesh filename="package://iai_kitchen/meshes/handles/Handle60.dae" />
            </geometry>
        </visual>
        <collision>
            <origin rpy="0 0 0" xyz="0 0 0" />
            <geometry>
                <mesh filename="package://iai_kitchen/meshes/handles/Handle60.obj" />
            </geometry>
        </collision>
    </link>
    <joint name="fridge_area_lower_drawer_main_joint" type="prismatic">
        <origin rpy="0 0 0" xyz="0.0 -0.0 -0.4175 " />
        <parent link="fridge_area" />
        <child link="fridge_area_lower_drawer_main" />
        <axis xyz="1. 0. 0.0" />
        <limit effort="300" lower="0" upper="0.48" velocity="10" />
        <!--
          <limit effort="300" lower="0" upper="0" velocity="10"/>
      -->
    </joint>
    <joint name="fridge_area_lower_drawer_handle_joint" type="fixed">
        <origin rpy="0 0 0" xyz="0.3525 0 0.11" />
        <parent link="fridge_area_lower_drawer_main" />
        <child link="fridge_area_lower_drawer_handle" />
        <axis xyz="0 0 1" />
        <limit effort="300" lower="0" upper="1.5707963267948966" velocity="10" />
    </joint>
    <link name="iai_fridge_main">
        <inertial>
            <origin rpy="0 0 0" xyz="0.0 0.0 0.0" />
            <mass value="1" />
            <inertia ixx="1" ixy="0.0" ixz="0.0" iyy="1" iyz="0.0" izz="1" />
        </inertial>
        <visual>
            <origin rpy="0 0 0" xyz="0 0 0" />
            <geometry>
                <mesh filename="package://iai_kitchen/meshes/misc/Fridge.dae" />
            </geometry>
        </visual>
        <collision>
            <origin rpy="0 0 0" xyz="0 0 0" />
            <geometry>
                <mesh filename="package://iai_kitchen/meshes/misc/Fridge.obj" />
            </geometry>
        </collision>
    </link>
    <link name="iai_fridge_main_middle_level">
        <visual>
            <origin rpy="0 0 0" xyz="0 0 0" />
            <geometry>
                <box size="0.29 0.50 0.01" />
            </geometry>
        </visual>
        <collision>
            <origin rpy="0 0 0" xyz="0 0 0" />
            <geometry>
                <box size="0.29 0.50 0.01" />
            </geometry>
        </collision>
    </link>
    <link name="iai_fridge_door">
        <inertial>
            <origin rpy="0 0 0" xyz="0.0 0.0 0.0" />
            <mass value="1" />
            <inertia ixx="1" ixy="0.0" ixz="0.0" iyy="1" iyz="0.0" izz="1" />
        </inertial>
        <visual>
            <origin rpy="0 0 0" xyz="0 0 0" />
            <geometry>
                <mesh filename="package://iai_kitchen/meshes/misc/FridgeDoor.dae" />
            </geometry>
        </visual>
        <collision>
            <origin rpy="0 0 0" xyz="0 0 0" />
            <geometry>
                <mesh filename="package://iai_kitchen/meshes/misc/FridgeDoor.obj" />
            </geometry>
        </collision>
    </link>
    <link name="iai_fridge_ceiling">
        <visual>
            <geometry>
                <box size="0.56 0.5 0.13" />
            </geometry>
        </visual>
        <collision>
            <geometry>
                <box size="0.56 0.5 0.13" />
            </geometry>
        </collision>
    </link>
    <link name="iai_fridge_door_handle">
        <inertial>
            <origin rpy="0 0 0" xyz="0.0 0.0 0.0" />
            <mass value="1" />
            <inertia ixx="1" ixy="0.0" ixz="0.0" iyy="1" iyz="0.0" izz="1" />
        </inertial>
        <visual>
            <origin rpy="0 0 0" xyz="0 0 0" />
            <geometry>
                <mesh filename="package://iai_kitchen/meshes/handles/VHandle90.dae" />
            </geometry>
        </visual>
        <collision>
            <origin rpy="0 0 0" xyz="0 0 0" />
            <geometry>
                <mesh filename="package://iai_kitchen/meshes/handles/VHandle90.obj" />
            </geometry>
        </collision>
    </link>
    <joint name="iai_fridge_main_joint" type="fixed">
        <origin rpy="0 0 0" xyz="0 0 0.25" />
        <parent link="fridge_area" />
        <child link="iai_fridge_main" />
    </joint>
    <joint name="iai_fridge_main_middle_level_joint" type="fixed">
        <parent link="iai_fridge_main" />
        <child link="iai_fridge_main_middle_level" />
        <origin rpy="0 0 0" xyz="-0.01 0 0.01" />
    </joint>
    <joint name="iai_fridge_door_joint" type="revolute">
        <origin rpy="0 0 0" xyz="0.29 0.3 0" />
        <parent link="iai_fridge_main" />
        <child link="iai_fridge_door" />
        <axis xyz="0 0 1" />
        <limit effort="300" lower="0" upper="1.5707963267948966" velocity="10" />
        <!--
      <limit lower="0" upper="0" effort="300" velocity="10"/>
-->
    </joint>
    <joint name="iai_fridge_ceiling_joint" type="fixed">
        <origin xyz="0.0 0.0 0.44" />
        <parent link="iai_fridge_main" />
        <child link="iai_fridge_ceiling" />
    </joint>
    <joint name="iai_fridge_door_handle_joint" type="fixed">
        <origin rpy="0 0 0" xyz="0.07 -0.57 0." />
        <parent link="iai_fridge_door" />
        <child link="iai_fridge_door_handle" />
    </joint>
    <link name="iai_fridge_door_block">
        <visual>
            <geometry>
                <box size="0.04 0.523 0.88" />
            </geometry>
        </visual>
        <collision>
            <geometry>
                <box size="0.04 0.523 0.88" />
            </geometry>
        </collision>
    </link>
    <link name="iai_fridge_door_block_right_bar">
        <visual>
            <geometry>
                <box size="0.06 0.015 0.73" />
            </geometry>
        </visual>
        <collision>
            <geometry>
                <box size="0.06 0.015 0.73" />
            </geometry>
        </collision>
    </link>
    <link name="iai_fridge_door_block_left_bar">
        <visual>
            <geometry>
                <box size="0.06 0.015 0.73" />
            </geometry>
        </visual>
        <collision>
            <geometry>
                <box size="0.06 0.015 0.73" />
            </geometry>
        </collision>
    </link>
    <link name="iai_fridge_door_block_top_bar">
        <visual>
            <geometry>
                <box size="0.045 0.46 0.01" />
            </geometry>
        </visual>
        <collision>
            <geometry>
                <box size="0.045 0.46 0.01" />
            </geometry>
        </collision>
    </link>
    <joint name="iai_fridge_door_block_joint" type="fixed">
        <origin xyz="-0.025 -0.27 -0.01" />
        <parent link="iai_fridge_door" />
        <child link="iai_fridge_door_block" />
    </joint>
    <joint name="iai_fridge_door_block_right_bar_joint" type="fixed">
        <origin xyz="-0.0425 -0.2225 0.01" />
        <parent link="iai_fridge_door_block" />
        <child link="iai_fridge_door_block_right_bar" />
    </joint>
    <joint name="iai_fridge_door_block_left_bar_joint" type="fixed">
        <origin xyz="-0.0425 0.2225 0.01" />
        <parent link="iai_fridge_door_block" />
        <child link="iai_fridge_door_block_left_bar" />
    </joint>
    <joint name="iai_fridge_door_block_top_bar_joint" type="fixed">
        <origin xyz="-0.03 0 0.37" />
        <parent link="iai_fridge_door_block" />
        <child link="iai_fridge_door_block_top_bar" />
    </joint>
    <joint name="iai_fridge_door_shelf1_to_door" type="fixed">
        <origin xyz="-0.07 0 -0.3525 " />
        <child link="iai_fridge_door_shelf1_bottom" />
        <parent link="iai_fridge_door_block" />
    </joint>
    <link name="iai_fridge_door_shelf1_bottom">
        <visual>
            <geometry>
                <box size="0.1 0.35 0.01" />
            </geometry>
        </visual>
        <collision>
            <geometry>
                <box size="0.1 0.35 0.01" />
            </geometry>
        </collision>
    </link>
    <link name="iai_fridge_door_shelf1_left_side">
        <visual>
            <geometry>
                <box size="0.115 0.06 0.1" />
            </geometry>
        </visual>
        <collision>
            <geometry>
                <box size="0.115 0.06 0.1" />
            </geometry>
        </collision>
    </link>
    <link name="iai_fridge_door_shelf1_right_side">
        <visual>
            <geometry>
                <box size="0.115 0.06 0.1" />
            </geometry>
        </visual>
        <collision>
            <geometry>
                <box size="0.115 0.06 0.1" />
            </geometry>
        </collision>
    </link>
    <link name="iai_fridge_door_shelf1_front_side">
        <visual>
            <geometry>
                <box size="0.02 0.35 0.1" />
            </geometry>
        </visual>
        <collision>
            <geometry>
                <box size="0.01 0.35 0.1" />
            </geometry>
        </collision>
    </link>
    <joint name="iai_fridge_door_shelf1_left_to_bottom" type="fixed">
        <origin xyz="-0.0025 -0.2 0.045000000000000005" />
        <parent link="iai_fridge_door_shelf1_bottom" />
        <child link="iai_fridge_door_shelf1_left_side" />
    </joint>
    <joint name="iai_fridge_door_shelf1_right_to_bottom" type="fixed">
        <origin xyz="-0.0025 0.2 0.045000000000000005" />
        <parent link="iai_fridge_door_shelf1_bottom" />
        <child link="iai_fridge_door_shelf1_right_side" />
    </joint>
    <joint name="iai_fridge_door_shelf1_front_to_bottom" type="fixed">
        <origin xyz="-0.05 0 0.045000000000000005" />
        <parent link="iai_fridge_door_shelf1_bottom" />
        <child link="iai_fridge_door_shelf1_front_side" />
    </joint>
    <joint name="iai_fridge_door_shelf2_to_door" type="fixed">
        <origin xyz="-0.07 0 0.02" />
        <child link="iai_fridge_door_shelf2_bottom" />
        <parent link="iai_fridge_door_block" />
    </joint>
    <link name="iai_fridge_door_shelf2_bottom">
        <visual>
            <geometry>
                <box size="0.1 0.35 0.01" />
            </geometry>
        </visual>
        <collision>
            <geometry>
                <box size="0.1 0.35 0.01" />
            </geometry>
        </collision>
    </link>
    <link name="iai_fridge_door_shelf2_left_side">
        <visual>
            <geometry>
                <box size="0.115 0.06 0.065" />
            </geometry>
        </visual>
        <collision>
            <geometry>
                <box size="0.115 0.06 0.065" />
            </geometry>
        </collision>
    </link>
    <link name="iai_fridge_door_shelf2_right_side">
        <visual>
            <geometry>
                <box size="0.115 0.06 0.065" />
            </geometry>
        </visual>
        <collision>
            <geometry>
                <box size="0.115 0.06 0.065" />
            </geometry>
        </collision>
    </link>
    <link name="iai_fridge_door_shelf2_front_side">
        <visual>
            <geometry>
                <box size="0.02 0.35 0.065" />
            </geometry>
        </visual>
        <collision>
            <geometry>
                <box size="0.01 0.35 0.065" />
            </geometry>
        </collision>
    </link>
    <joint name="iai_fridge_door_shelf2_left_to_bottom" type="fixed">
        <origin xyz="-0.0025 -0.2 0.0275" />
        <parent link="iai_fridge_door_shelf2_bottom" />
        <child link="iai_fridge_door_shelf2_left_side" />
    </joint>
    <joint name="iai_fridge_door_shelf2_right_to_bottom" type="fixed">
        <origin xyz="-0.0025 0.2 0.0275" />
        <parent link="iai_fridge_door_shelf2_bottom" />
        <child link="iai_fridge_door_shelf2_right_side" />
    </joint>
    <joint name="iai_fridge_door_shelf2_front_to_bottom" type="fixed">
        <origin xyz="-0.05 0 0.0275" />
        <parent link="iai_fridge_door_shelf2_bottom" />
        <child link="iai_fridge_door_shelf2_front_side" />
    </joint>
    <joint name="iai_fridge_door_shelf3_to_door" type="fixed">
        <origin xyz="-0.07 0 0.23" />
        <child link="iai_fridge_door_shelf3_bottom" />
        <parent link="iai_fridge_door_block" />
    </joint>
    <link name="iai_fridge_door_shelf3_bottom">
        <visual>
            <geometry>
                <box size="0.1 0.35 0.01" />
            </geometry>
        </visual>
        <collision>
            <geometry>
                <box size="0.1 0.35 0.01" />
            </geometry>
        </collision>
    </link>
    <link name="iai_fridge_door_shelf3_left_side">
        <visual>
            <geometry>
                <box size="0.115 0.06 0.065" />
            </geometry>
        </visual>
        <collision>
            <geometry>
                <box size="0.115 0.06 0.065" />
            </geometry>
        </collision>
    </link>
    <link name="iai_fridge_door_shelf3_right_side">
        <visual>
            <geometry>
                <box size="0.115 0.06 0.065" />
            </geometry>
        </visual>
        <collision>
            <geometry>
                <box size="0.115 0.06 0.065" />
            </geometry>
        </collision>
    </link>
    <link name="iai_fridge_door_shelf3_front_side">
        <visual>
            <geometry>
                <box size="0.02 0.35 0.065" />
            </geometry>
        </visual>
        <collision>
            <geometry>
                <box size="0.01 0.35 0.065" />
            </geometry>
        </collision>
    </link>
    <joint name="iai_fridge_door_shelf3_left_to_bottom" type="fixed">
        <origin xyz="-0.0025 -0.2 0.0275" />
        <parent link="iai_fridge_door_shelf3_bottom" />
        <child link="iai_fridge_door_shelf3_left_side" />
    </joint>
    <joint name="iai_fridge_door_shelf3_right_to_bottom" type="fixed">
        <origin xyz="-0.0025 0.2 0.0275" />
        <parent link="iai_fridge_door_shelf3_bottom" />
        <child link="iai_fridge_door_shelf3_right_side" />
    </joint>
    <joint name="iai_fridge_door_shelf3_front_to_bottom" type="fixed">
        <origin xyz="-0.05 0 0.0275" />
        <parent link="iai_fridge_door_shelf3_bottom" />
        <child link="iai_fridge_door_shelf3_front_side" />
    </joint>
    <link name="table_area_main">
        <inertial>
            <origin rpy="0 0 0" xyz="0.0 0.0 0.0" />
            <mass value="1" />
            <inertia ixx="1" ixy="0.0" ixz="0.0" iyy="1" iyz="0.0" izz="1" />
        </inertial>
        <visual>
            <origin rpy="0 0 0" xyz="0 0 0.3619" />
            <geometry>
                <mesh filename="package://iai_kitchen/meshes/misc/big_table_1.dae" />
            </geometry>
        </visual>
        <collision>
            <origin rpy="0 0 0" xyz="0 0 0.3619" />
            <geometry>
                <mesh filename="package://iai_kitchen/meshes/misc/big_table_1.obj" />
            </geometry>
        </collision>
    </link>
    <joint name="table_area_main_joint" type="fixed">
        <origin rpy="0 0 3.141592653589793" xyz="-2.4 -1.5 0" />
        <parent link="room_link" />
        <child link="table_area_main" />
    </joint>
    <link name="dining_area_footprint">
        <inertial>
            <origin rpy="0 0 0" xyz="0.0 0.0 0.0" />
            <mass value="1" />
            <inertia ixx="1" ixy="0.0" ixz="0.0" iyy="1" iyz="0.0" izz="1" />
        </inertial>
    </link>
    <joint name="dining_area_footprint_joint" type="fixed">
        <origin rpy="0 0 1.5707963267948966" xyz="-3.38 0.28 0" />
        <child link="dining_area_footprint" />
        <parent link="room_link" />
    </joint>
    <link name="dining_area_jokkmokk_table_main">
        <inertial>
            <origin rpy="0 0 0" xyz="0.0 0.0 0.0" />
            <mass value="1" />
            <inertia ixx="1" ixy="0.0" ixz="0.0" iyy="1" iyz="0.0" izz="1" />
        </inertial>
        <visual>
            <origin rpy="0 0 0" xyz="0.0 0.0 0.0" />
            <geometry>
                <mesh filename="package://iai_kitchen/meshes/jokkmokk/JokkmokkTable.obj" />
            </geometry>
        </visual>
        <collision>
            <origin rpy="0 0 0" xyz="0.0 0.0 0.0" />
            <geometry>
                <mesh filename="package://iai_kitchen/meshes/jokkmokk/JokkmokkTable.obj" />
            </geometry>
        </collision>
    </link>
    <joint name="dining_area_jokkmokk_table_main_joint" type="fixed">
        <origin rpy="0 0 0" xyz="0 0 0.35" />
        <parent link="dining_area_footprint" />
        <child link="dining_area_jokkmokk_table_main" />
        <origin rpy="0 0 0" xyz="0.0 0.0 0.0" />
    </joint>
    <link name="dining_area_jokkmokk_left_chair_main">
        <inertial>
            <origin rpy="0 0 0" xyz="0.0 0.0 0.0" />
            <mass value="1" />
            <inertia ixx="1" ixy="0.0" ixz="0.0" iyy="1" iyz="0.0" izz="1" />
        </inertial>
        <visual>
            <origin rpy="0 0 0" xyz="0.0 0.0 0.0" />
            <geometry>
                <mesh filename="package://iai_kitchen/meshes/jokkmokk/JokkmokkChair.obj" />
            </geometry>
        </visual>
        <collision>
            <origin rpy="0 0 0" xyz="0.0 0.0 0.0" />
            <geometry>
                <mesh filename="package://iai_kitchen/meshes/jokkmokk/JokkmokkChair.obj" />
            </geometry>
        </collision>
    </link>
    <joint name="dining_area_jokkmokk_left_chair_main_joint" type="fixed">
        <origin rpy="0 0 0" xyz="-1 0 0.5535" />
        <parent link="dining_area_footprint" />
        <child link="dining_area_jokkmokk_left_chair_main" />
    </joint>
    <link name="dining_area_jokkmokk_right_chair_main">
        <inertial>
            <origin rpy="0 0 0" xyz="0.0 0.0 0.0" />
            <mass value="1" />
            <inertia ixx="1" ixy="0.0" ixz="0.0" iyy="1" iyz="0.0" izz="1" />
        </inertial>
        <visual>
            <origin rpy="0 0 0" xyz="0.0 0.0 0.0" />
            <geometry>
                <mesh filename="package://iai_kitchen/meshes/jokkmokk/JokkmokkChair.obj" />
            </geometry>
        </visual>
        <collision>
            <origin rpy="0 0 0" xyz="0.0 0.0 0.0" />
            <geometry>
                <mesh filename="package://iai_kitchen/meshes/jokkmokk/JokkmokkChair.obj" />
            </geometry>
        </collision>
    </link>
    <joint name="dining_area_jokkmokk_right_chair_main_joint" type="fixed">
        <origin rpy="0 0 -3.141592653589793" xyz="1 0 0.5535" />
        <parent link="dining_area_footprint" />
        <child link="dining_area_jokkmokk_right_chair_main" />
    </joint>
    <!-- LINKS -->
    <link name="kitchen_wall_1">
        <inertial>
            <origin rpy="0 0 0" xyz="0.0 0.0 0.0" />
            <mass value="1" />
            <inertia ixx="1" ixy="0.0" ixz="0.0" iyy="1" iyz="0.0" izz="1" />
        </inertial>
        <visual>
            <origin rpy="0 0 0" xyz="0 0 1.25" />
            <geometry>
                <box size="1.1376 0.15 2.5" />
            </geometry>
        </visual>
        <collision>
            <origin rpy="0 0 0" xyz="0 0 1.25" />
            <geometry>
                <box size="1.1376 0.15 2.5" />
            </geometry>
        </collision>
    </link>
    <link name="kitchen_wall_2">
        <inertial>
            <origin rpy="0 0 0" xyz="0.0 0.0 0.0" />
            <mass value="1" />
            <inertia ixx="1" ixy="0.0" ixz="0.0" iyy="1" iyz="0.0" izz="1" />
        </inertial>
        <visual>
            <origin rpy="0 0 0" xyz="0 0 1.25" />
            <geometry>
                <box size="5.182 0.15 2.5" />
            </geometry>
        </visual>
        <collision>
            <origin rpy="0 0 0" xyz="0 0 1.25" />
            <geometry>
                <box size="5.182 0.15 2.5" />
            </geometry>
        </collision>
    </link>
    <link name="kitchen_wall_3">
        <inertial>
            <origin rpy="0 0 0" xyz="0.0 0.0 0.0" />
            <mass value="1" />
            <inertia ixx="1" ixy="0.0" ixz="0.0" iyy="1" iyz="0.0" izz="1" />
        </inertial>
        <visual>
            <origin rpy="0 0 0" xyz="0 0 1.25" />
            <geometry>
                <box size="5.901 0.15 2.5" />
            </geometry>
        </visual>
        <collision>
            <origin rpy="0 0 0" xyz="0 0 1.25" />
            <geometry>
                <box size="5.901 0.15 2.5" />
            </geometry>
        </collision>
    </link>
    <link name="kitchen_wall_4">
        <inertial>
            <origin rpy="0 0 0" xyz="0.0 0.0 0.0" />
            <mass value="1" />
            <inertia ixx="1" ixy="0.0" ixz="0.0" iyy="1" iyz="0.0" izz="1" />
        </inertial>
        <visual>
            <origin rpy="0 0 0" xyz="0 0 0.35" />
            <geometry>
                <box size="4.25 0.15 0.7" />
            </geometry>
        </visual>
        <collision>
            <origin rpy="0 0 0" xyz="0 0 0.35" />
            <geometry>
                <box size="4.25 0.15 0.7" />
            </geometry>
        </collision>
    </link>
    <link name="kitchen_wall_5">
        <inertial>
            <origin rpy="0 0 0" xyz="0.0 0.0 0.0" />
            <mass value="1" />
            <inertia ixx="1" ixy="0.0" ixz="0.0" iyy="1" iyz="0.0" izz="1" />
        </inertial>
        <visual>
            <origin rpy="0 0 0" xyz="0 0 0.35" />
            <geometry>
                <box size="2.27328 0.15 0.7" />
            </geometry>
        </visual>
        <collision>
            <origin rpy="0 0 0" xyz="0 0 0.35" />
            <geometry>
                <box size="2.27328 0.15 0.7" />
            </geometry>
        </collision>
    </link>
    <link name="kitchen_wall_6">
        <inertial>
            <origin rpy="0 0 0" xyz="0.0 0.0 0.0" />
            <mass value="1" />
            <inertia ixx="1" ixy="0.0" ixz="0.0" iyy="1" iyz="0.0" izz="1" />
        </inertial>
        <visual>
            <origin rpy="0 0 0" xyz="0 0 0.35" />
            <geometry>
                <box size="1 0.15 0.7" />
            </geometry>
        </visual>
        <collision>
            <origin rpy="0 0 0" xyz="0 0 0.35" />
            <geometry>
                <box size="1 0.15 0.7" />
            </geometry>
        </collision>
    </link>
    <link name="kitchen_wall_7">
        <inertial>
            <origin rpy="0 0 0" xyz="0.0 0.0 0.0" />
            <mass value="1" />
            <inertia ixx="1" ixy="0.0" ixz="0.0" iyy="1" iyz="0.0" izz="1" />
        </inertial>
        <visual>
            <origin rpy="0 0 0" xyz="0 0 0.375" />
            <geometry>
                <box size="1.6 0.15 0.75" />
            </geometry>
        </visual>
        <collision>
            <origin rpy="0 0 0" xyz="0 0 0.375" />
            <geometry>
                <box size="1.6 0.15 0.75" />
            </geometry>
        </collision>
    </link>
    <!-- JOINTS -->
    <link name="kitchen_walls" />
    <joint name="walls_main_joint" type="fixed">
        <origin rpy="0.0 0.0 0.0" xyz="-0.96 0.65 0" />
        <parent link="room_link" />
        <child link="kitchen_walls" />
    </joint>
    <joint name="wall_1_joint" type="fixed">
        <origin rpy="0 -0 3.14159" xyz="2.38151 -2.516 0" />
        <parent link="kitchen_walls" />
        <child link="kitchen_wall_1" />
    </joint>

    <joint name="wall_2_joint" type="fixed">
        <origin rpy="0 -0 1.5708" xyz="2.87551 0 0" />
        <parent link="kitchen_walls" />
        <child link="kitchen_wall_2" />
    </joint>
    <joint name="wall_3_joint" type="fixed">
        <origin rpy="0 -0 3.14159" xyz="0 2.516 0" />
        <parent link="kitchen_walls" />
        <child link="kitchen_wall_3" />
    </joint>
    <joint name="wall_4_joint" type="fixed">
        <origin rpy="0 0 -1.5708" xyz="-2.87549 0.466 0" />
        <parent link="kitchen_walls" />
        <child link="kitchen_wall_4" />
    </joint>
    <joint name="wall_5_joint" type="fixed">
        <origin rpy="0 -0 0.000157" xyz="-1.81385 -1.70376 0" />
        <parent link="kitchen_walls" />
        <child link="kitchen_wall_5" />
    </joint>
    <joint name="wall_6_joint" type="fixed">
        <origin rpy="0 0 -1.5708" xyz="-0.65 -2.12851 0" />
        <parent link="kitchen_walls" />
        <child link="kitchen_wall_6" />
    </joint>
    <joint name="wall_7_joint" type="fixed">
        <origin rpy="0 -0 3.14159" xyz="1.01271 -2.556 0" />
        <parent link="kitchen_walls" />
        <child link="kitchen_wall_7" />
    </joint>
</robot>
